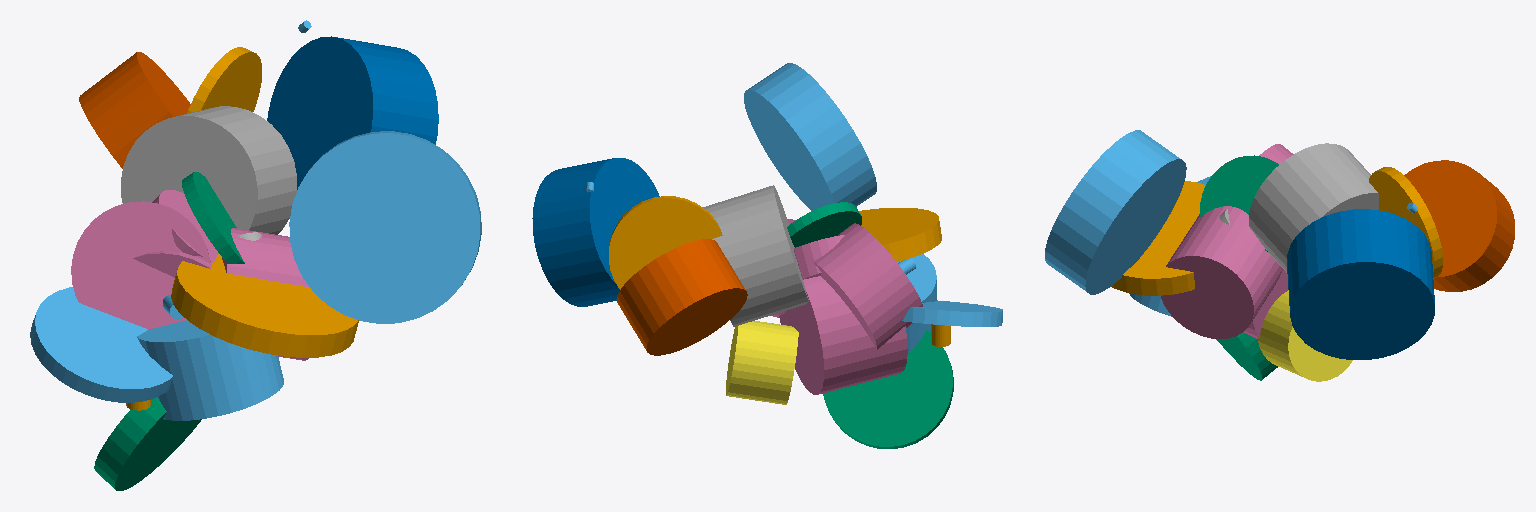
--- Facts derived from the render (not from the file) ---
The picture shows the robot from 3 angles, left to right: view 1: azimuth 30°, elevation 25°; view 2: azimuth 150°, elevation 25°; view 3: azimuth 270°, elevation 25°; orthographic projection.
Model pepe with 214 links and 213 joints (213 revolute), rooted at 0, posed every joint at zero.
Visible links, largest first — view 1: 17113, 1852, 547, 11112, 4110, 9145, 11, 1069, 15146, 648, 814, 32 (+2 smaller); view 2: 17113, 1852, 1069, 15146, 547, 246, 4110, 648, 143, 11112, 9145, 32 (+2 smaller); view 3: 1852, 17113, 814, 1069, 547, 11112, 143, 32, 648, 15146, 246.
Boxes of the visible links, x1,y1,x2,y2 form: 17113: (289,131,481,323); 1852: (267,36,438,189); 547: (121,106,296,234); 11112: (171,253,358,357); 4110: (71,201,209,329); 9145: (30,287,173,402); 11: (137,320,283,420); 1069: (79,52,190,168); 15146: (94,397,201,490); 648: (187,47,261,113); 814: (222,228,309,360); 32: (182,172,244,263); 17113: (744,63,876,210); 1852: (532,158,659,306); 1069: (617,239,747,355); 15146: (823,330,953,448); 547: (703,185,808,326); 246: (779,276,907,394); 4110: (813,223,922,349); 648: (609,196,722,289); 143: (726,321,798,404); 11112: (859,208,941,261); 9145: (902,300,1002,326); 32: (787,202,861,247); 1852: (1287,209,1434,359); 17113: (1045,130,1186,294); 814: (1161,206,1282,338); 1069: (1404,160,1514,291); 547: (1249,143,1378,272); 11112: (1111,181,1205,295); 143: (1257,290,1352,381); 32: (1200,155,1278,251); 648: (1369,167,1442,278); 15146: (1216,332,1277,380); 246: (1244,269,1287,338).
Size in the robot's own frame: 4.79 by 5 by 3.63 metres.
Geometry: primitives only (box / cylinder / sphere), no mesh files.

URDF robot description (pepe):
<?xml version="1.0"?><robot name="pepe">
	<link name="0">
		<visual>
			<geometry>
				<cylinder length="0.4161817930104861" radius="0.11094390167130874"/>
			</geometry>
		</visual>
		<collision>
			<geometry>
				<cylinder length="0.4161817930104861" radius="0.11094390167130874"/>
			</geometry>
		</collision>
		<inertial>
			<mass value="0.016093104068993763"/>
			<inertia ixx="0.03" iyy="0.03" izz="0.03" ixy="0" ixz="0" iyx="0"/>
		</inertial>
	</link>
	<link name="11">
		<visual>
			<geometry>
				<cylinder length="0.7653369330926383" radius="0.6081475968178962"/>
			</geometry>
		</visual>
		<collision>
			<geometry>
				<cylinder length="0.7653369330926383" radius="0.6081475968178962"/>
			</geometry>
		</collision>
		<inertial>
			<mass value="0.8892431618662225"/>
			<inertia ixx="0.03" iyy="0.03" izz="0.03" ixy="0" ixz="0" iyx="0"/>
		</inertial>
	</link>
	<link name="32">
		<visual>
			<geometry>
				<cylinder length="0.12230806905345315" radius="0.5479488398534842"/>
			</geometry>
		</visual>
		<collision>
			<geometry>
				<cylinder length="0.12230806905345315" radius="0.5479488398534842"/>
			</geometry>
		</collision>
		<inertial>
			<mass value="0.11536790493694493"/>
			<inertia ixx="0.03" iyy="0.03" izz="0.03" ixy="0" ixz="0" iyx="0"/>
		</inertial>
	</link>
	<link name="143">
		<visual>
			<geometry>
				<cylinder length="0.6714643504302111" radius="0.4344814887949725"/>
			</geometry>
		</visual>
		<collision>
			<geometry>
				<cylinder length="0.6714643504302111" radius="0.4344814887949725"/>
			</geometry>
		</collision>
		<inertial>
			<mass value="0.3982129584436313"/>
			<inertia ixx="0.03" iyy="0.03" izz="0.03" ixy="0" ixz="0" iyx="0"/>
		</inertial>
	</link>
	<link name="144">
		<visual>
			<geometry>
				<cylinder length="0.6714643504302111" radius="0.4344814887949725"/>
			</geometry>
		</visual>
		<collision>
			<geometry>
				<cylinder length="0.6714643504302111" radius="0.4344814887949725"/>
			</geometry>
		</collision>
		<inertial>
			<mass value="0.3982129584436313"/>
			<inertia ixx="0.03" iyy="0.03" izz="0.03" ixy="0" ixz="0" iyx="0"/>
		</inertial>
	</link>
	<link name="145">
		<visual>
			<geometry>
				<cylinder length="0.6714643504302111" radius="0.4344814887949725"/>
			</geometry>
		</visual>
		<collision>
			<geometry>
				<cylinder length="0.6714643504302111" radius="0.4344814887949725"/>
			</geometry>
		</collision>
		<inertial>
			<mass value="0.3982129584436313"/>
			<inertia ixx="0.03" iyy="0.03" izz="0.03" ixy="0" ixz="0" iyx="0"/>
		</inertial>
	</link>
	<link name="36">
		<visual>
			<geometry>
				<cylinder length="0.12230806905345315" radius="0.5479488398534842"/>
			</geometry>
		</visual>
		<collision>
			<geometry>
				<cylinder length="0.12230806905345315" radius="0.5479488398534842"/>
			</geometry>
		</collision>
		<inertial>
			<mass value="0.11536790493694493"/>
			<inertia ixx="0.03" iyy="0.03" izz="0.03" ixy="0" ixz="0" iyx="0"/>
		</inertial>
	</link>
	<link name="147">
		<visual>
			<geometry>
				<cylinder length="0.6714643504302111" radius="0.4344814887949725"/>
			</geometry>
		</visual>
		<collision>
			<geometry>
				<cylinder length="0.6714643504302111" radius="0.4344814887949725"/>
			</geometry>
		</collision>
		<inertial>
			<mass value="0.3982129584436313"/>
			<inertia ixx="0.03" iyy="0.03" izz="0.03" ixy="0" ixz="0" iyx="0"/>
		</inertial>
	</link>
	<link name="148">
		<visual>
			<geometry>
				<cylinder length="0.6714643504302111" radius="0.4344814887949725"/>
			</geometry>
		</visual>
		<collision>
			<geometry>
				<cylinder length="0.6714643504302111" radius="0.4344814887949725"/>
			</geometry>
		</collision>
		<inertial>
			<mass value="0.3982129584436313"/>
			<inertia ixx="0.03" iyy="0.03" izz="0.03" ixy="0" ixz="0" iyx="0"/>
		</inertial>
	</link>
	<link name="149">
		<visual>
			<geometry>
				<cylinder length="0.6714643504302111" radius="0.4344814887949725"/>
			</geometry>
		</visual>
		<collision>
			<geometry>
				<cylinder length="0.6714643504302111" radius="0.4344814887949725"/>
			</geometry>
		</collision>
		<inertial>
			<mass value="0.3982129584436313"/>
			<inertia ixx="0.03" iyy="0.03" izz="0.03" ixy="0" ixz="0" iyx="0"/>
		</inertial>
	</link>
	<link name="310">
		<visual>
			<geometry>
				<cylinder length="0.12230806905345315" radius="0.5479488398534842"/>
			</geometry>
		</visual>
		<collision>
			<geometry>
				<cylinder length="0.12230806905345315" radius="0.5479488398534842"/>
			</geometry>
		</collision>
		<inertial>
			<mass value="0.11536790493694493"/>
			<inertia ixx="0.03" iyy="0.03" izz="0.03" ixy="0" ixz="0" iyx="0"/>
		</inertial>
	</link>
	<link name="1411">
		<visual>
			<geometry>
				<cylinder length="0.6714643504302111" radius="0.4344814887949725"/>
			</geometry>
		</visual>
		<collision>
			<geometry>
				<cylinder length="0.6714643504302111" radius="0.4344814887949725"/>
			</geometry>
		</collision>
		<inertial>
			<mass value="0.3982129584436313"/>
			<inertia ixx="0.03" iyy="0.03" izz="0.03" ixy="0" ixz="0" iyx="0"/>
		</inertial>
	</link>
	<link name="1412">
		<visual>
			<geometry>
				<cylinder length="0.6714643504302111" radius="0.4344814887949725"/>
			</geometry>
		</visual>
		<collision>
			<geometry>
				<cylinder length="0.6714643504302111" radius="0.4344814887949725"/>
			</geometry>
		</collision>
		<inertial>
			<mass value="0.3982129584436313"/>
			<inertia ixx="0.03" iyy="0.03" izz="0.03" ixy="0" ixz="0" iyx="0"/>
		</inertial>
	</link>
	<link name="1413">
		<visual>
			<geometry>
				<cylinder length="0.6714643504302111" radius="0.4344814887949725"/>
			</geometry>
		</visual>
		<collision>
			<geometry>
				<cylinder length="0.6714643504302111" radius="0.4344814887949725"/>
			</geometry>
		</collision>
		<inertial>
			<mass value="0.3982129584436313"/>
			<inertia ixx="0.03" iyy="0.03" izz="0.03" ixy="0" ixz="0" iyx="0"/>
		</inertial>
	</link>
	<link name="814">
		<visual>
			<geometry>
				<cylinder length="0.9546986473012627" radius="0.5453221949403331"/>
			</geometry>
		</visual>
		<collision>
			<geometry>
				<cylinder length="0.9546986473012627" radius="0.5453221949403331"/>
			</geometry>
		</collision>
		<inertial>
			<mass value="0.8919130700450001"/>
			<inertia ixx="0.03" iyy="0.03" izz="0.03" ixy="0" ixz="0" iyx="0"/>
		</inertial>
	</link>
	<link name="815">
		<visual>
			<geometry>
				<cylinder length="0.9546986473012627" radius="0.5453221949403331"/>
			</geometry>
		</visual>
		<collision>
			<geometry>
				<cylinder length="0.9546986473012627" radius="0.5453221949403331"/>
			</geometry>
		</collision>
		<inertial>
			<mass value="0.8919130700450001"/>
			<inertia ixx="0.03" iyy="0.03" izz="0.03" ixy="0" ixz="0" iyx="0"/>
		</inertial>
	</link>
	<link name="116">
		<visual>
			<geometry>
				<cylinder length="0.7653369330926383" radius="0.6081475968178962"/>
			</geometry>
		</visual>
		<collision>
			<geometry>
				<cylinder length="0.7653369330926383" radius="0.6081475968178962"/>
			</geometry>
		</collision>
		<inertial>
			<mass value="0.8892431618662225"/>
			<inertia ixx="0.03" iyy="0.03" izz="0.03" ixy="0" ixz="0" iyx="0"/>
		</inertial>
	</link>
	<link name="317">
		<visual>
			<geometry>
				<cylinder length="0.12230806905345315" radius="0.5479488398534842"/>
			</geometry>
		</visual>
		<collision>
			<geometry>
				<cylinder length="0.12230806905345315" radius="0.5479488398534842"/>
			</geometry>
		</collision>
		<inertial>
			<mass value="0.11536790493694493"/>
			<inertia ixx="0.03" iyy="0.03" izz="0.03" ixy="0" ixz="0" iyx="0"/>
		</inertial>
	</link>
	<link name="1418">
		<visual>
			<geometry>
				<cylinder length="0.6714643504302111" radius="0.4344814887949725"/>
			</geometry>
		</visual>
		<collision>
			<geometry>
				<cylinder length="0.6714643504302111" radius="0.4344814887949725"/>
			</geometry>
		</collision>
		<inertial>
			<mass value="0.3982129584436313"/>
			<inertia ixx="0.03" iyy="0.03" izz="0.03" ixy="0" ixz="0" iyx="0"/>
		</inertial>
	</link>
	<link name="1419">
		<visual>
			<geometry>
				<cylinder length="0.6714643504302111" radius="0.4344814887949725"/>
			</geometry>
		</visual>
		<collision>
			<geometry>
				<cylinder length="0.6714643504302111" radius="0.4344814887949725"/>
			</geometry>
		</collision>
		<inertial>
			<mass value="0.3982129584436313"/>
			<inertia ixx="0.03" iyy="0.03" izz="0.03" ixy="0" ixz="0" iyx="0"/>
		</inertial>
	</link>
	<link name="1420">
		<visual>
			<geometry>
				<cylinder length="0.6714643504302111" radius="0.4344814887949725"/>
			</geometry>
		</visual>
		<collision>
			<geometry>
				<cylinder length="0.6714643504302111" radius="0.4344814887949725"/>
			</geometry>
		</collision>
		<inertial>
			<mass value="0.3982129584436313"/>
			<inertia ixx="0.03" iyy="0.03" izz="0.03" ixy="0" ixz="0" iyx="0"/>
		</inertial>
	</link>
	<link name="321">
		<visual>
			<geometry>
				<cylinder length="0.12230806905345315" radius="0.5479488398534842"/>
			</geometry>
		</visual>
		<collision>
			<geometry>
				<cylinder length="0.12230806905345315" radius="0.5479488398534842"/>
			</geometry>
		</collision>
		<inertial>
			<mass value="0.11536790493694493"/>
			<inertia ixx="0.03" iyy="0.03" izz="0.03" ixy="0" ixz="0" iyx="0"/>
		</inertial>
	</link>
	<link name="1422">
		<visual>
			<geometry>
				<cylinder length="0.6714643504302111" radius="0.4344814887949725"/>
			</geometry>
		</visual>
		<collision>
			<geometry>
				<cylinder length="0.6714643504302111" radius="0.4344814887949725"/>
			</geometry>
		</collision>
		<inertial>
			<mass value="0.3982129584436313"/>
			<inertia ixx="0.03" iyy="0.03" izz="0.03" ixy="0" ixz="0" iyx="0"/>
		</inertial>
	</link>
	<link name="1423">
		<visual>
			<geometry>
				<cylinder length="0.6714643504302111" radius="0.4344814887949725"/>
			</geometry>
		</visual>
		<collision>
			<geometry>
				<cylinder length="0.6714643504302111" radius="0.4344814887949725"/>
			</geometry>
		</collision>
		<inertial>
			<mass value="0.3982129584436313"/>
			<inertia ixx="0.03" iyy="0.03" izz="0.03" ixy="0" ixz="0" iyx="0"/>
		</inertial>
	</link>
	<link name="1424">
		<visual>
			<geometry>
				<cylinder length="0.6714643504302111" radius="0.4344814887949725"/>
			</geometry>
		</visual>
		<collision>
			<geometry>
				<cylinder length="0.6714643504302111" radius="0.4344814887949725"/>
			</geometry>
		</collision>
		<inertial>
			<mass value="0.3982129584436313"/>
			<inertia ixx="0.03" iyy="0.03" izz="0.03" ixy="0" ixz="0" iyx="0"/>
		</inertial>
	</link>
	<link name="325">
		<visual>
			<geometry>
				<cylinder length="0.12230806905345315" radius="0.5479488398534842"/>
			</geometry>
		</visual>
		<collision>
			<geometry>
				<cylinder length="0.12230806905345315" radius="0.5479488398534842"/>
			</geometry>
		</collision>
		<inertial>
			<mass value="0.11536790493694493"/>
			<inertia ixx="0.03" iyy="0.03" izz="0.03" ixy="0" ixz="0" iyx="0"/>
		</inertial>
	</link>
	<link name="1426">
		<visual>
			<geometry>
				<cylinder length="0.6714643504302111" radius="0.4344814887949725"/>
			</geometry>
		</visual>
		<collision>
			<geometry>
				<cylinder length="0.6714643504302111" radius="0.4344814887949725"/>
			</geometry>
		</collision>
		<inertial>
			<mass value="0.3982129584436313"/>
			<inertia ixx="0.03" iyy="0.03" izz="0.03" ixy="0" ixz="0" iyx="0"/>
		</inertial>
	</link>
	<link name="1427">
		<visual>
			<geometry>
				<cylinder length="0.6714643504302111" radius="0.4344814887949725"/>
			</geometry>
		</visual>
		<collision>
			<geometry>
				<cylinder length="0.6714643504302111" radius="0.4344814887949725"/>
			</geometry>
		</collision>
		<inertial>
			<mass value="0.3982129584436313"/>
			<inertia ixx="0.03" iyy="0.03" izz="0.03" ixy="0" ixz="0" iyx="0"/>
		</inertial>
	</link>
	<link name="1428">
		<visual>
			<geometry>
				<cylinder length="0.6714643504302111" radius="0.4344814887949725"/>
			</geometry>
		</visual>
		<collision>
			<geometry>
				<cylinder length="0.6714643504302111" radius="0.4344814887949725"/>
			</geometry>
		</collision>
		<inertial>
			<mass value="0.3982129584436313"/>
			<inertia ixx="0.03" iyy="0.03" izz="0.03" ixy="0" ixz="0" iyx="0"/>
		</inertial>
	</link>
	<link name="829">
		<visual>
			<geometry>
				<cylinder length="0.9546986473012627" radius="0.5453221949403331"/>
			</geometry>
		</visual>
		<collision>
			<geometry>
				<cylinder length="0.9546986473012627" radius="0.5453221949403331"/>
			</geometry>
		</collision>
		<inertial>
			<mass value="0.8919130700450001"/>
			<inertia ixx="0.03" iyy="0.03" izz="0.03" ixy="0" ixz="0" iyx="0"/>
		</inertial>
	</link>
	<link name="830">
		<visual>
			<geometry>
				<cylinder length="0.9546986473012627" radius="0.5453221949403331"/>
			</geometry>
		</visual>
		<collision>
			<geometry>
				<cylinder length="0.9546986473012627" radius="0.5453221949403331"/>
			</geometry>
		</collision>
		<inertial>
			<mass value="0.8919130700450001"/>
			<inertia ixx="0.03" iyy="0.03" izz="0.03" ixy="0" ixz="0" iyx="0"/>
		</inertial>
	</link>
	<link name="131">
		<visual>
			<geometry>
				<cylinder length="0.7653369330926383" radius="0.6081475968178962"/>
			</geometry>
		</visual>
		<collision>
			<geometry>
				<cylinder length="0.7653369330926383" radius="0.6081475968178962"/>
			</geometry>
		</collision>
		<inertial>
			<mass value="0.8892431618662225"/>
			<inertia ixx="0.03" iyy="0.03" izz="0.03" ixy="0" ixz="0" iyx="0"/>
		</inertial>
	</link>
	<link name="332">
		<visual>
			<geometry>
				<cylinder length="0.12230806905345315" radius="0.5479488398534842"/>
			</geometry>
		</visual>
		<collision>
			<geometry>
				<cylinder length="0.12230806905345315" radius="0.5479488398534842"/>
			</geometry>
		</collision>
		<inertial>
			<mass value="0.11536790493694493"/>
			<inertia ixx="0.03" iyy="0.03" izz="0.03" ixy="0" ixz="0" iyx="0"/>
		</inertial>
	</link>
	<link name="1433">
		<visual>
			<geometry>
				<cylinder length="0.6714643504302111" radius="0.4344814887949725"/>
			</geometry>
		</visual>
		<collision>
			<geometry>
				<cylinder length="0.6714643504302111" radius="0.4344814887949725"/>
			</geometry>
		</collision>
		<inertial>
			<mass value="0.3982129584436313"/>
			<inertia ixx="0.03" iyy="0.03" izz="0.03" ixy="0" ixz="0" iyx="0"/>
		</inertial>
	</link>
	<link name="1434">
		<visual>
			<geometry>
				<cylinder length="0.6714643504302111" radius="0.4344814887949725"/>
			</geometry>
		</visual>
		<collision>
			<geometry>
				<cylinder length="0.6714643504302111" radius="0.4344814887949725"/>
			</geometry>
		</collision>
		<inertial>
			<mass value="0.3982129584436313"/>
			<inertia ixx="0.03" iyy="0.03" izz="0.03" ixy="0" ixz="0" iyx="0"/>
		</inertial>
	</link>
	<link name="1435">
		<visual>
			<geometry>
				<cylinder length="0.6714643504302111" radius="0.4344814887949725"/>
			</geometry>
		</visual>
		<collision>
			<geometry>
				<cylinder length="0.6714643504302111" radius="0.4344814887949725"/>
			</geometry>
		</collision>
		<inertial>
			<mass value="0.3982129584436313"/>
			<inertia ixx="0.03" iyy="0.03" izz="0.03" ixy="0" ixz="0" iyx="0"/>
		</inertial>
	</link>
	<link name="336">
		<visual>
			<geometry>
				<cylinder length="0.12230806905345315" radius="0.5479488398534842"/>
			</geometry>
		</visual>
		<collision>
			<geometry>
				<cylinder length="0.12230806905345315" radius="0.5479488398534842"/>
			</geometry>
		</collision>
		<inertial>
			<mass value="0.11536790493694493"/>
			<inertia ixx="0.03" iyy="0.03" izz="0.03" ixy="0" ixz="0" iyx="0"/>
		</inertial>
	</link>
	<link name="1437">
		<visual>
			<geometry>
				<cylinder length="0.6714643504302111" radius="0.4344814887949725"/>
			</geometry>
		</visual>
		<collision>
			<geometry>
				<cylinder length="0.6714643504302111" radius="0.4344814887949725"/>
			</geometry>
		</collision>
		<inertial>
			<mass value="0.3982129584436313"/>
			<inertia ixx="0.03" iyy="0.03" izz="0.03" ixy="0" ixz="0" iyx="0"/>
		</inertial>
	</link>
	<link name="1438">
		<visual>
			<geometry>
				<cylinder length="0.6714643504302111" radius="0.4344814887949725"/>
			</geometry>
		</visual>
		<collision>
			<geometry>
				<cylinder length="0.6714643504302111" radius="0.4344814887949725"/>
			</geometry>
		</collision>
		<inertial>
			<mass value="0.3982129584436313"/>
			<inertia ixx="0.03" iyy="0.03" izz="0.03" ixy="0" ixz="0" iyx="0"/>
		</inertial>
	</link>
	<link name="1439">
		<visual>
			<geometry>
				<cylinder length="0.6714643504302111" radius="0.4344814887949725"/>
			</geometry>
		</visual>
		<collision>
			<geometry>
				<cylinder length="0.6714643504302111" radius="0.4344814887949725"/>
			</geometry>
		</collision>
		<inertial>
			<mass value="0.3982129584436313"/>
			<inertia ixx="0.03" iyy="0.03" izz="0.03" ixy="0" ixz="0" iyx="0"/>
		</inertial>
	</link>
	<link name="340">
		<visual>
			<geometry>
				<cylinder length="0.12230806905345315" radius="0.5479488398534842"/>
			</geometry>
		</visual>
		<collision>
			<geometry>
				<cylinder length="0.12230806905345315" radius="0.5479488398534842"/>
			</geometry>
		</collision>
		<inertial>
			<mass value="0.11536790493694493"/>
			<inertia ixx="0.03" iyy="0.03" izz="0.03" ixy="0" ixz="0" iyx="0"/>
		</inertial>
	</link>
	<link name="1441">
		<visual>
			<geometry>
				<cylinder length="0.6714643504302111" radius="0.4344814887949725"/>
			</geometry>
		</visual>
		<collision>
			<geometry>
				<cylinder length="0.6714643504302111" radius="0.4344814887949725"/>
			</geometry>
		</collision>
		<inertial>
			<mass value="0.3982129584436313"/>
			<inertia ixx="0.03" iyy="0.03" izz="0.03" ixy="0" ixz="0" iyx="0"/>
		</inertial>
	</link>
	<link name="1442">
		<visual>
			<geometry>
				<cylinder length="0.6714643504302111" radius="0.4344814887949725"/>
			</geometry>
		</visual>
		<collision>
			<geometry>
				<cylinder length="0.6714643504302111" radius="0.4344814887949725"/>
			</geometry>
		</collision>
		<inertial>
			<mass value="0.3982129584436313"/>
			<inertia ixx="0.03" iyy="0.03" izz="0.03" ixy="0" ixz="0" iyx="0"/>
		</inertial>
	</link>
	<link name="1443">
		<visual>
			<geometry>
				<cylinder length="0.6714643504302111" radius="0.4344814887949725"/>
			</geometry>
		</visual>
		<collision>
			<geometry>
				<cylinder length="0.6714643504302111" radius="0.4344814887949725"/>
			</geometry>
		</collision>
		<inertial>
			<mass value="0.3982129584436313"/>
			<inertia ixx="0.03" iyy="0.03" izz="0.03" ixy="0" ixz="0" iyx="0"/>
		</inertial>
	</link>
	<link name="844">
		<visual>
			<geometry>
				<cylinder length="0.9546986473012627" radius="0.5453221949403331"/>
			</geometry>
		</visual>
		<collision>
			<geometry>
				<cylinder length="0.9546986473012627" radius="0.5453221949403331"/>
			</geometry>
		</collision>
		<inertial>
			<mass value="0.8919130700450001"/>
			<inertia ixx="0.03" iyy="0.03" izz="0.03" ixy="0" ixz="0" iyx="0"/>
		</inertial>
	</link>
	<link name="845">
		<visual>
			<geometry>
				<cylinder length="0.9546986473012627" radius="0.5453221949403331"/>
			</geometry>
		</visual>
		<collision>
			<geometry>
				<cylinder length="0.9546986473012627" radius="0.5453221949403331"/>
			</geometry>
		</collision>
		<inertial>
			<mass value="0.8919130700450001"/>
			<inertia ixx="0.03" iyy="0.03" izz="0.03" ixy="0" ixz="0" iyx="0"/>
		</inertial>
	</link>
	<link name="246">
		<visual>
			<geometry>
				<cylinder length="0.9809002577633869" radius="0.7497416429966227"/>
			</geometry>
		</visual>
		<collision>
			<geometry>
				<cylinder length="0.9809002577633869" radius="0.7497416429966227"/>
			</geometry>
		</collision>
		<inertial>
			<mass value="1.7321998176022606"/>
			<inertia ixx="0.03" iyy="0.03" izz="0.03" ixy="0" ixz="0" iyx="0"/>
		</inertial>
	</link>
	<link name="547">
		<visual>
			<geometry>
				<cylinder length="0.8826442772815515" radius="0.6816320047712525"/>
			</geometry>
		</visual>
		<collision>
			<geometry>
				<cylinder length="0.8826442772815515" radius="0.6816320047712525"/>
			</geometry>
		</collision>
		<inertial>
			<mass value="1.2883549485535126"/>
			<inertia ixx="0.03" iyy="0.03" izz="0.03" ixy="0" ixz="0" iyx="0"/>
		</inertial>
	</link>
	<link name="648">
		<visual>
			<geometry>
				<cylinder length="0.11362368630845499" radius="0.6494033630976267"/>
			</geometry>
		</visual>
		<collision>
			<geometry>
				<cylinder length="0.11362368630845499" radius="0.6494033630976267"/>
			</geometry>
		</collision>
		<inertial>
			<mass value="0.15053857980209853"/>
			<inertia ixx="0.03" iyy="0.03" izz="0.03" ixy="0" ixz="0" iyx="0"/>
		</inertial>
	</link>
	<link name="1349">
		<visual>
			<geometry>
				<cylinder length="0.08742329743517208" radius="0.04281209901730665"/>
			</geometry>
		</visual>
		<collision>
			<geometry>
				<cylinder length="0.08742329743517208" radius="0.04281209901730665"/>
			</geometry>
		</collision>
		<inertial>
			<mass value="0.0005033963917769191"/>
			<inertia ixx="0.03" iyy="0.03" izz="0.03" ixy="0" ixz="0" iyx="0"/>
		</inertial>
	</link>
	<link name="1350">
		<visual>
			<geometry>
				<cylinder length="0.08742329743517208" radius="0.04281209901730665"/>
			</geometry>
		</visual>
		<collision>
			<geometry>
				<cylinder length="0.08742329743517208" radius="0.04281209901730665"/>
			</geometry>
		</collision>
		<inertial>
			<mass value="0.0005033963917769191"/>
			<inertia ixx="0.03" iyy="0.03" izz="0.03" ixy="0" ixz="0" iyx="0"/>
		</inertial>
	</link>
	<link name="1351">
		<visual>
			<geometry>
				<cylinder length="0.08742329743517208" radius="0.04281209901730665"/>
			</geometry>
		</visual>
		<collision>
			<geometry>
				<cylinder length="0.08742329743517208" radius="0.04281209901730665"/>
			</geometry>
		</collision>
		<inertial>
			<mass value="0.0005033963917769191"/>
			<inertia ixx="0.03" iyy="0.03" izz="0.03" ixy="0" ixz="0" iyx="0"/>
		</inertial>
	</link>
	<link name="1852">
		<visual>
			<geometry>
				<cylinder length="0.7632356982536102" radius="0.7713125472484885"/>
			</geometry>
		</visual>
		<collision>
			<geometry>
				<cylinder length="0.7632356982536102" radius="0.7713125472484885"/>
			</geometry>
		</collision>
		<inertial>
			<mass value="1.4264919997174177"/>
			<inertia ixx="0.03" iyy="0.03" izz="0.03" ixy="0" ixz="0" iyx="0"/>
		</inertial>
	</link>
	<link name="1853">
		<visual>
			<geometry>
				<cylinder length="0.7632356982536102" radius="0.7713125472484885"/>
			</geometry>
		</visual>
		<collision>
			<geometry>
				<cylinder length="0.7632356982536102" radius="0.7713125472484885"/>
			</geometry>
		</collision>
		<inertial>
			<mass value="1.4264919997174177"/>
			<inertia ixx="0.03" iyy="0.03" izz="0.03" ixy="0" ixz="0" iyx="0"/>
		</inertial>
	</link>
	<link name="1854">
		<visual>
			<geometry>
				<cylinder length="0.7632356982536102" radius="0.7713125472484885"/>
			</geometry>
		</visual>
		<collision>
			<geometry>
				<cylinder length="0.7632356982536102" radius="0.7713125472484885"/>
			</geometry>
		</collision>
		<inertial>
			<mass value="1.4264919997174177"/>
			<inertia ixx="0.03" iyy="0.03" izz="0.03" ixy="0" ixz="0" iyx="0"/>
		</inertial>
	</link>
	<link name="655">
		<visual>
			<geometry>
				<cylinder length="0.11362368630845499" radius="0.6494033630976267"/>
			</geometry>
		</visual>
		<collision>
			<geometry>
				<cylinder length="0.11362368630845499" radius="0.6494033630976267"/>
			</geometry>
		</collision>
		<inertial>
			<mass value="0.15053857980209853"/>
			<inertia ixx="0.03" iyy="0.03" izz="0.03" ixy="0" ixz="0" iyx="0"/>
		</inertial>
	</link>
	<link name="1356">
		<visual>
			<geometry>
				<cylinder length="0.08742329743517208" radius="0.04281209901730665"/>
			</geometry>
		</visual>
		<collision>
			<geometry>
				<cylinder length="0.08742329743517208" radius="0.04281209901730665"/>
			</geometry>
		</collision>
		<inertial>
			<mass value="0.0005033963917769191"/>
			<inertia ixx="0.03" iyy="0.03" izz="0.03" ixy="0" ixz="0" iyx="0"/>
		</inertial>
	</link>
	<link name="1357">
		<visual>
			<geometry>
				<cylinder length="0.08742329743517208" radius="0.04281209901730665"/>
			</geometry>
		</visual>
		<collision>
			<geometry>
				<cylinder length="0.08742329743517208" radius="0.04281209901730665"/>
			</geometry>
		</collision>
		<inertial>
			<mass value="0.0005033963917769191"/>
			<inertia ixx="0.03" iyy="0.03" izz="0.03" ixy="0" ixz="0" iyx="0"/>
		</inertial>
	</link>
	<link name="1358">
		<visual>
			<geometry>
				<cylinder length="0.08742329743517208" radius="0.04281209901730665"/>
			</geometry>
		</visual>
		<collision>
			<geometry>
				<cylinder length="0.08742329743517208" radius="0.04281209901730665"/>
			</geometry>
		</collision>
		<inertial>
			<mass value="0.0005033963917769191"/>
			<inertia ixx="0.03" iyy="0.03" izz="0.03" ixy="0" ixz="0" iyx="0"/>
		</inertial>
	</link>
	<link name="1859">
		<visual>
			<geometry>
				<cylinder length="0.7632356982536102" radius="0.7713125472484885"/>
			</geometry>
		</visual>
		<collision>
			<geometry>
				<cylinder length="0.7632356982536102" radius="0.7713125472484885"/>
			</geometry>
		</collision>
		<inertial>
			<mass value="1.4264919997174177"/>
			<inertia ixx="0.03" iyy="0.03" izz="0.03" ixy="0" ixz="0" iyx="0"/>
		</inertial>
	</link>
	<link name="1860">
		<visual>
			<geometry>
				<cylinder length="0.7632356982536102" radius="0.7713125472484885"/>
			</geometry>
		</visual>
		<collision>
			<geometry>
				<cylinder length="0.7632356982536102" radius="0.7713125472484885"/>
			</geometry>
		</collision>
		<inertial>
			<mass value="1.4264919997174177"/>
			<inertia ixx="0.03" iyy="0.03" izz="0.03" ixy="0" ixz="0" iyx="0"/>
		</inertial>
	</link>
	<link name="1861">
		<visual>
			<geometry>
				<cylinder length="0.7632356982536102" radius="0.7713125472484885"/>
			</geometry>
		</visual>
		<collision>
			<geometry>
				<cylinder length="0.7632356982536102" radius="0.7713125472484885"/>
			</geometry>
		</collision>
		<inertial>
			<mass value="1.4264919997174177"/>
			<inertia ixx="0.03" iyy="0.03" izz="0.03" ixy="0" ixz="0" iyx="0"/>
		</inertial>
	</link>
	<link name="662">
		<visual>
			<geometry>
				<cylinder length="0.11362368630845499" radius="0.6494033630976267"/>
			</geometry>
		</visual>
		<collision>
			<geometry>
				<cylinder length="0.11362368630845499" radius="0.6494033630976267"/>
			</geometry>
		</collision>
		<inertial>
			<mass value="0.15053857980209853"/>
			<inertia ixx="0.03" iyy="0.03" izz="0.03" ixy="0" ixz="0" iyx="0"/>
		</inertial>
	</link>
	<link name="1363">
		<visual>
			<geometry>
				<cylinder length="0.08742329743517208" radius="0.04281209901730665"/>
			</geometry>
		</visual>
		<collision>
			<geometry>
				<cylinder length="0.08742329743517208" radius="0.04281209901730665"/>
			</geometry>
		</collision>
		<inertial>
			<mass value="0.0005033963917769191"/>
			<inertia ixx="0.03" iyy="0.03" izz="0.03" ixy="0" ixz="0" iyx="0"/>
		</inertial>
	</link>
	<link name="1364">
		<visual>
			<geometry>
				<cylinder length="0.08742329743517208" radius="0.04281209901730665"/>
			</geometry>
		</visual>
		<collision>
			<geometry>
				<cylinder length="0.08742329743517208" radius="0.04281209901730665"/>
			</geometry>
		</collision>
		<inertial>
			<mass value="0.0005033963917769191"/>
			<inertia ixx="0.03" iyy="0.03" izz="0.03" ixy="0" ixz="0" iyx="0"/>
		</inertial>
	</link>
	<link name="1365">
		<visual>
			<geometry>
				<cylinder length="0.08742329743517208" radius="0.04281209901730665"/>
			</geometry>
		</visual>
		<collision>
			<geometry>
				<cylinder length="0.08742329743517208" radius="0.04281209901730665"/>
			</geometry>
		</collision>
		<inertial>
			<mass value="0.0005033963917769191"/>
			<inertia ixx="0.03" iyy="0.03" izz="0.03" ixy="0" ixz="0" iyx="0"/>
		</inertial>
	</link>
	<link name="1866">
		<visual>
			<geometry>
				<cylinder length="0.7632356982536102" radius="0.7713125472484885"/>
			</geometry>
		</visual>
		<collision>
			<geometry>
				<cylinder length="0.7632356982536102" radius="0.7713125472484885"/>
			</geometry>
		</collision>
		<inertial>
			<mass value="1.4264919997174177"/>
			<inertia ixx="0.03" iyy="0.03" izz="0.03" ixy="0" ixz="0" iyx="0"/>
		</inertial>
	</link>
	<link name="1867">
		<visual>
			<geometry>
				<cylinder length="0.7632356982536102" radius="0.7713125472484885"/>
			</geometry>
		</visual>
		<collision>
			<geometry>
				<cylinder length="0.7632356982536102" radius="0.7713125472484885"/>
			</geometry>
		</collision>
		<inertial>
			<mass value="1.4264919997174177"/>
			<inertia ixx="0.03" iyy="0.03" izz="0.03" ixy="0" ixz="0" iyx="0"/>
		</inertial>
	</link>
	<link name="1868">
		<visual>
			<geometry>
				<cylinder length="0.7632356982536102" radius="0.7713125472484885"/>
			</geometry>
		</visual>
		<collision>
			<geometry>
				<cylinder length="0.7632356982536102" radius="0.7713125472484885"/>
			</geometry>
		</collision>
		<inertial>
			<mass value="1.4264919997174177"/>
			<inertia ixx="0.03" iyy="0.03" izz="0.03" ixy="0" ixz="0" iyx="0"/>
		</inertial>
	</link>
	<link name="1069">
		<visual>
			<geometry>
				<cylinder length="0.6652914430042213" radius="0.6410002805635848"/>
			</geometry>
		</visual>
		<collision>
			<geometry>
				<cylinder length="0.6652914430042213" radius="0.6410002805635848"/>
			</geometry>
		</collision>
		<inertial>
			<mass value="0.8587727386165295"/>
			<inertia ixx="0.03" iyy="0.03" izz="0.03" ixy="0" ixz="0" iyx="0"/>
		</inertial>
	</link>
	<link name="1270">
		<visual>
			<geometry>
				<cylinder length="0.35874076210707495" radius="0.4950138678047672"/>
			</geometry>
		</visual>
		<collision>
			<geometry>
				<cylinder length="0.35874076210707495" radius="0.4950138678047672"/>
			</geometry>
		</collision>
		<inertial>
			<mass value="0.27616289759503065"/>
			<inertia ixx="0.03" iyy="0.03" izz="0.03" ixy="0" ixz="0" iyx="0"/>
		</inertial>
	</link>
	<link name="1971">
		<visual>
			<geometry>
				<cylinder length="0.6353588741446312" radius="0.19022579933833428"/>
			</geometry>
		</visual>
		<collision>
			<geometry>
				<cylinder length="0.6353588741446312" radius="0.19022579933833428"/>
			</geometry>
		</collision>
		<inertial>
			<mass value="0.07222836902534091"/>
			<inertia ixx="0.03" iyy="0.03" izz="0.03" ixy="0" ixz="0" iyx="0"/>
		</inertial>
	</link>
	<link name="1972">
		<visual>
			<geometry>
				<cylinder length="0.6353588741446312" radius="0.19022579933833428"/>
			</geometry>
		</visual>
		<collision>
			<geometry>
				<cylinder length="0.6353588741446312" radius="0.19022579933833428"/>
			</geometry>
		</collision>
		<inertial>
			<mass value="0.07222836902534091"/>
			<inertia ixx="0.03" iyy="0.03" izz="0.03" ixy="0" ixz="0" iyx="0"/>
		</inertial>
	</link>
	<link name="1973">
		<visual>
			<geometry>
				<cylinder length="0.6353588741446312" radius="0.19022579933833428"/>
			</geometry>
		</visual>
		<collision>
			<geometry>
				<cylinder length="0.6353588741446312" radius="0.19022579933833428"/>
			</geometry>
		</collision>
		<inertial>
			<mass value="0.07222836902534091"/>
			<inertia ixx="0.03" iyy="0.03" izz="0.03" ixy="0" ixz="0" iyx="0"/>
		</inertial>
	</link>
	<link name="1274">
		<visual>
			<geometry>
				<cylinder length="0.35874076210707495" radius="0.4950138678047672"/>
			</geometry>
		</visual>
		<collision>
			<geometry>
				<cylinder length="0.35874076210707495" radius="0.4950138678047672"/>
			</geometry>
		</collision>
		<inertial>
			<mass value="0.27616289759503065"/>
			<inertia ixx="0.03" iyy="0.03" izz="0.03" ixy="0" ixz="0" iyx="0"/>
		</inertial>
	</link>
	<link name="1975">
		<visual>
			<geometry>
				<cylinder length="0.6353588741446312" radius="0.19022579933833428"/>
			</geometry>
		</visual>
		<collision>
			<geometry>
				<cylinder length="0.6353588741446312" radius="0.19022579933833428"/>
			</geometry>
		</collision>
		<inertial>
			<mass value="0.07222836902534091"/>
			<inertia ixx="0.03" iyy="0.03" izz="0.03" ixy="0" ixz="0" iyx="0"/>
		</inertial>
	</link>
	<link name="1976">
		<visual>
			<geometry>
				<cylinder length="0.6353588741446312" radius="0.19022579933833428"/>
			</geometry>
		</visual>
		<collision>
			<geometry>
				<cylinder length="0.6353588741446312" radius="0.19022579933833428"/>
			</geometry>
		</collision>
		<inertial>
			<mass value="0.07222836902534091"/>
			<inertia ixx="0.03" iyy="0.03" izz="0.03" ixy="0" ixz="0" iyx="0"/>
		</inertial>
	</link>
	<link name="1977">
		<visual>
			<geometry>
				<cylinder length="0.6353588741446312" radius="0.19022579933833428"/>
			</geometry>
		</visual>
		<collision>
			<geometry>
				<cylinder length="0.6353588741446312" radius="0.19022579933833428"/>
			</geometry>
		</collision>
		<inertial>
			<mass value="0.07222836902534091"/>
			<inertia ixx="0.03" iyy="0.03" izz="0.03" ixy="0" ixz="0" iyx="0"/>
		</inertial>
	</link>
	<link name="278">
		<visual>
			<geometry>
				<cylinder length="0.9809002577633869" radius="0.7497416429966227"/>
			</geometry>
		</visual>
		<collision>
			<geometry>
				<cylinder length="0.9809002577633869" radius="0.7497416429966227"/>
			</geometry>
		</collision>
		<inertial>
			<mass value="1.7321998176022606"/>
			<inertia ixx="0.03" iyy="0.03" izz="0.03" ixy="0" ixz="0" iyx="0"/>
		</inertial>
	</link>
	<link name="579">
		<visual>
			<geometry>
				<cylinder length="0.8826442772815515" radius="0.6816320047712525"/>
			</geometry>
		</visual>
		<collision>
			<geometry>
				<cylinder length="0.8826442772815515" radius="0.6816320047712525"/>
			</geometry>
		</collision>
		<inertial>
			<mass value="1.2883549485535126"/>
			<inertia ixx="0.03" iyy="0.03" izz="0.03" ixy="0" ixz="0" iyx="0"/>
		</inertial>
	</link>
	<link name="680">
		<visual>
			<geometry>
				<cylinder length="0.11362368630845499" radius="0.6494033630976267"/>
			</geometry>
		</visual>
		<collision>
			<geometry>
				<cylinder length="0.11362368630845499" radius="0.6494033630976267"/>
			</geometry>
		</collision>
		<inertial>
			<mass value="0.15053857980209853"/>
			<inertia ixx="0.03" iyy="0.03" izz="0.03" ixy="0" ixz="0" iyx="0"/>
		</inertial>
	</link>
	<link name="1381">
		<visual>
			<geometry>
				<cylinder length="0.08742329743517208" radius="0.04281209901730665"/>
			</geometry>
		</visual>
		<collision>
			<geometry>
				<cylinder length="0.08742329743517208" radius="0.04281209901730665"/>
			</geometry>
		</collision>
		<inertial>
			<mass value="0.0005033963917769191"/>
			<inertia ixx="0.03" iyy="0.03" izz="0.03" ixy="0" ixz="0" iyx="0"/>
		</inertial>
	</link>
	<link name="1382">
		<visual>
			<geometry>
				<cylinder length="0.08742329743517208" radius="0.04281209901730665"/>
			</geometry>
		</visual>
		<collision>
			<geometry>
				<cylinder length="0.08742329743517208" radius="0.04281209901730665"/>
			</geometry>
		</collision>
		<inertial>
			<mass value="0.0005033963917769191"/>
			<inertia ixx="0.03" iyy="0.03" izz="0.03" ixy="0" ixz="0" iyx="0"/>
		</inertial>
	</link>
	<link name="1383">
		<visual>
			<geometry>
				<cylinder length="0.08742329743517208" radius="0.04281209901730665"/>
			</geometry>
		</visual>
		<collision>
			<geometry>
				<cylinder length="0.08742329743517208" radius="0.04281209901730665"/>
			</geometry>
		</collision>
		<inertial>
			<mass value="0.0005033963917769191"/>
			<inertia ixx="0.03" iyy="0.03" izz="0.03" ixy="0" ixz="0" iyx="0"/>
		</inertial>
	</link>
	<link name="1884">
		<visual>
			<geometry>
				<cylinder length="0.7632356982536102" radius="0.7713125472484885"/>
			</geometry>
		</visual>
		<collision>
			<geometry>
				<cylinder length="0.7632356982536102" radius="0.7713125472484885"/>
			</geometry>
		</collision>
		<inertial>
			<mass value="1.4264919997174177"/>
			<inertia ixx="0.03" iyy="0.03" izz="0.03" ixy="0" ixz="0" iyx="0"/>
		</inertial>
	</link>
	<link name="1885">
		<visual>
			<geometry>
				<cylinder length="0.7632356982536102" radius="0.7713125472484885"/>
			</geometry>
		</visual>
		<collision>
			<geometry>
				<cylinder length="0.7632356982536102" radius="0.7713125472484885"/>
			</geometry>
		</collision>
		<inertial>
			<mass value="1.4264919997174177"/>
			<inertia ixx="0.03" iyy="0.03" izz="0.03" ixy="0" ixz="0" iyx="0"/>
		</inertial>
	</link>
	<link name="1886">
		<visual>
			<geometry>
				<cylinder length="0.7632356982536102" radius="0.7713125472484885"/>
			</geometry>
		</visual>
		<collision>
			<geometry>
				<cylinder length="0.7632356982536102" radius="0.7713125472484885"/>
			</geometry>
		</collision>
		<inertial>
			<mass value="1.4264919997174177"/>
			<inertia ixx="0.03" iyy="0.03" izz="0.03" ixy="0" ixz="0" iyx="0"/>
		</inertial>
	</link>
	<link name="687">
		<visual>
			<geometry>
				<cylinder length="0.11362368630845499" radius="0.6494033630976267"/>
			</geometry>
		</visual>
		<collision>
			<geometry>
				<cylinder length="0.11362368630845499" radius="0.6494033630976267"/>
			</geometry>
		</collision>
		<inertial>
			<mass value="0.15053857980209853"/>
			<inertia ixx="0.03" iyy="0.03" izz="0.03" ixy="0" ixz="0" iyx="0"/>
		</inertial>
	</link>
	<link name="1388">
		<visual>
			<geometry>
				<cylinder length="0.08742329743517208" radius="0.04281209901730665"/>
			</geometry>
		</visual>
		<collision>
			<geometry>
				<cylinder length="0.08742329743517208" radius="0.04281209901730665"/>
			</geometry>
		</collision>
		<inertial>
			<mass value="0.0005033963917769191"/>
			<inertia ixx="0.03" iyy="0.03" izz="0.03" ixy="0" ixz="0" iyx="0"/>
		</inertial>
	</link>
	<link name="1389">
		<visual>
			<geometry>
				<cylinder length="0.08742329743517208" radius="0.04281209901730665"/>
			</geometry>
		</visual>
		<collision>
			<geometry>
				<cylinder length="0.08742329743517208" radius="0.04281209901730665"/>
			</geometry>
		</collision>
		<inertial>
			<mass value="0.0005033963917769191"/>
			<inertia ixx="0.03" iyy="0.03" izz="0.03" ixy="0" ixz="0" iyx="0"/>
		</inertial>
	</link>
	<link name="1390">
		<visual>
			<geometry>
				<cylinder length="0.08742329743517208" radius="0.04281209901730665"/>
			</geometry>
		</visual>
		<collision>
			<geometry>
				<cylinder length="0.08742329743517208" radius="0.04281209901730665"/>
			</geometry>
		</collision>
		<inertial>
			<mass value="0.0005033963917769191"/>
			<inertia ixx="0.03" iyy="0.03" izz="0.03" ixy="0" ixz="0" iyx="0"/>
		</inertial>
	</link>
	<link name="1891">
		<visual>
			<geometry>
				<cylinder length="0.7632356982536102" radius="0.7713125472484885"/>
			</geometry>
		</visual>
		<collision>
			<geometry>
				<cylinder length="0.7632356982536102" radius="0.7713125472484885"/>
			</geometry>
		</collision>
		<inertial>
			<mass value="1.4264919997174177"/>
			<inertia ixx="0.03" iyy="0.03" izz="0.03" ixy="0" ixz="0" iyx="0"/>
		</inertial>
	</link>
	<link name="1892">
		<visual>
			<geometry>
				<cylinder length="0.7632356982536102" radius="0.7713125472484885"/>
			</geometry>
		</visual>
		<collision>
			<geometry>
				<cylinder length="0.7632356982536102" radius="0.7713125472484885"/>
			</geometry>
		</collision>
		<inertial>
			<mass value="1.4264919997174177"/>
			<inertia ixx="0.03" iyy="0.03" izz="0.03" ixy="0" ixz="0" iyx="0"/>
		</inertial>
	</link>
	<link name="1893">
		<visual>
			<geometry>
				<cylinder length="0.7632356982536102" radius="0.7713125472484885"/>
			</geometry>
		</visual>
		<collision>
			<geometry>
				<cylinder length="0.7632356982536102" radius="0.7713125472484885"/>
			</geometry>
		</collision>
		<inertial>
			<mass value="1.4264919997174177"/>
			<inertia ixx="0.03" iyy="0.03" izz="0.03" ixy="0" ixz="0" iyx="0"/>
		</inertial>
	</link>
	<link name="694">
		<visual>
			<geometry>
				<cylinder length="0.11362368630845499" radius="0.6494033630976267"/>
			</geometry>
		</visual>
		<collision>
			<geometry>
				<cylinder length="0.11362368630845499" radius="0.6494033630976267"/>
			</geometry>
		</collision>
		<inertial>
			<mass value="0.15053857980209853"/>
			<inertia ixx="0.03" iyy="0.03" izz="0.03" ixy="0" ixz="0" iyx="0"/>
		</inertial>
	</link>
	<link name="1395">
		<visual>
			<geometry>
				<cylinder length="0.08742329743517208" radius="0.04281209901730665"/>
			</geometry>
		</visual>
		<collision>
			<geometry>
				<cylinder length="0.08742329743517208" radius="0.04281209901730665"/>
			</geometry>
		</collision>
		<inertial>
			<mass value="0.0005033963917769191"/>
			<inertia ixx="0.03" iyy="0.03" izz="0.03" ixy="0" ixz="0" iyx="0"/>
		</inertial>
	</link>
	<link name="1396">
		<visual>
			<geometry>
				<cylinder length="0.08742329743517208" radius="0.04281209901730665"/>
			</geometry>
		</visual>
		<collision>
			<geometry>
				<cylinder length="0.08742329743517208" radius="0.04281209901730665"/>
			</geometry>
		</collision>
		<inertial>
			<mass value="0.0005033963917769191"/>
			<inertia ixx="0.03" iyy="0.03" izz="0.03" ixy="0" ixz="0" iyx="0"/>
		</inertial>
	</link>
	<link name="1397">
		<visual>
			<geometry>
				<cylinder length="0.08742329743517208" radius="0.04281209901730665"/>
			</geometry>
		</visual>
		<collision>
			<geometry>
				<cylinder length="0.08742329743517208" radius="0.04281209901730665"/>
			</geometry>
		</collision>
		<inertial>
			<mass value="0.0005033963917769191"/>
			<inertia ixx="0.03" iyy="0.03" izz="0.03" ixy="0" ixz="0" iyx="0"/>
		</inertial>
	</link>
	<link name="1898">
		<visual>
			<geometry>
				<cylinder length="0.7632356982536102" radius="0.7713125472484885"/>
			</geometry>
		</visual>
		<collision>
			<geometry>
				<cylinder length="0.7632356982536102" radius="0.7713125472484885"/>
			</geometry>
		</collision>
		<inertial>
			<mass value="1.4264919997174177"/>
			<inertia ixx="0.03" iyy="0.03" izz="0.03" ixy="0" ixz="0" iyx="0"/>
		</inertial>
	</link>
	<link name="1899">
		<visual>
			<geometry>
				<cylinder length="0.7632356982536102" radius="0.7713125472484885"/>
			</geometry>
		</visual>
		<collision>
			<geometry>
				<cylinder length="0.7632356982536102" radius="0.7713125472484885"/>
			</geometry>
		</collision>
		<inertial>
			<mass value="1.4264919997174177"/>
			<inertia ixx="0.03" iyy="0.03" izz="0.03" ixy="0" ixz="0" iyx="0"/>
		</inertial>
	</link>
	<link name="18100">
		<visual>
			<geometry>
				<cylinder length="0.7632356982536102" radius="0.7713125472484885"/>
			</geometry>
		</visual>
		<collision>
			<geometry>
				<cylinder length="0.7632356982536102" radius="0.7713125472484885"/>
			</geometry>
		</collision>
		<inertial>
			<mass value="1.4264919997174177"/>
			<inertia ixx="0.03" iyy="0.03" izz="0.03" ixy="0" ixz="0" iyx="0"/>
		</inertial>
	</link>
	<link name="10101">
		<visual>
			<geometry>
				<cylinder length="0.6652914430042213" radius="0.6410002805635848"/>
			</geometry>
		</visual>
		<collision>
			<geometry>
				<cylinder length="0.6652914430042213" radius="0.6410002805635848"/>
			</geometry>
		</collision>
		<inertial>
			<mass value="0.8587727386165295"/>
			<inertia ixx="0.03" iyy="0.03" izz="0.03" ixy="0" ixz="0" iyx="0"/>
		</inertial>
	</link>
	<link name="12102">
		<visual>
			<geometry>
				<cylinder length="0.35874076210707495" radius="0.4950138678047672"/>
			</geometry>
		</visual>
		<collision>
			<geometry>
				<cylinder length="0.35874076210707495" radius="0.4950138678047672"/>
			</geometry>
		</collision>
		<inertial>
			<mass value="0.27616289759503065"/>
			<inertia ixx="0.03" iyy="0.03" izz="0.03" ixy="0" ixz="0" iyx="0"/>
		</inertial>
	</link>
	<link name="19103">
		<visual>
			<geometry>
				<cylinder length="0.6353588741446312" radius="0.19022579933833428"/>
			</geometry>
		</visual>
		<collision>
			<geometry>
				<cylinder length="0.6353588741446312" radius="0.19022579933833428"/>
			</geometry>
		</collision>
		<inertial>
			<mass value="0.07222836902534091"/>
			<inertia ixx="0.03" iyy="0.03" izz="0.03" ixy="0" ixz="0" iyx="0"/>
		</inertial>
	</link>
	<link name="19104">
		<visual>
			<geometry>
				<cylinder length="0.6353588741446312" radius="0.19022579933833428"/>
			</geometry>
		</visual>
		<collision>
			<geometry>
				<cylinder length="0.6353588741446312" radius="0.19022579933833428"/>
			</geometry>
		</collision>
		<inertial>
			<mass value="0.07222836902534091"/>
			<inertia ixx="0.03" iyy="0.03" izz="0.03" ixy="0" ixz="0" iyx="0"/>
		</inertial>
	</link>
	<link name="19105">
		<visual>
			<geometry>
				<cylinder length="0.6353588741446312" radius="0.19022579933833428"/>
			</geometry>
		</visual>
		<collision>
			<geometry>
				<cylinder length="0.6353588741446312" radius="0.19022579933833428"/>
			</geometry>
		</collision>
		<inertial>
			<mass value="0.07222836902534091"/>
			<inertia ixx="0.03" iyy="0.03" izz="0.03" ixy="0" ixz="0" iyx="0"/>
		</inertial>
	</link>
	<link name="12106">
		<visual>
			<geometry>
				<cylinder length="0.35874076210707495" radius="0.4950138678047672"/>
			</geometry>
		</visual>
		<collision>
			<geometry>
				<cylinder length="0.35874076210707495" radius="0.4950138678047672"/>
			</geometry>
		</collision>
		<inertial>
			<mass value="0.27616289759503065"/>
			<inertia ixx="0.03" iyy="0.03" izz="0.03" ixy="0" ixz="0" iyx="0"/>
		</inertial>
	</link>
	<link name="19107">
		<visual>
			<geometry>
				<cylinder length="0.6353588741446312" radius="0.19022579933833428"/>
			</geometry>
		</visual>
		<collision>
			<geometry>
				<cylinder length="0.6353588741446312" radius="0.19022579933833428"/>
			</geometry>
		</collision>
		<inertial>
			<mass value="0.07222836902534091"/>
			<inertia ixx="0.03" iyy="0.03" izz="0.03" ixy="0" ixz="0" iyx="0"/>
		</inertial>
	</link>
	<link name="19108">
		<visual>
			<geometry>
				<cylinder length="0.6353588741446312" radius="0.19022579933833428"/>
			</geometry>
		</visual>
		<collision>
			<geometry>
				<cylinder length="0.6353588741446312" radius="0.19022579933833428"/>
			</geometry>
		</collision>
		<inertial>
			<mass value="0.07222836902534091"/>
			<inertia ixx="0.03" iyy="0.03" izz="0.03" ixy="0" ixz="0" iyx="0"/>
		</inertial>
	</link>
	<link name="19109">
		<visual>
			<geometry>
				<cylinder length="0.6353588741446312" radius="0.19022579933833428"/>
			</geometry>
		</visual>
		<collision>
			<geometry>
				<cylinder length="0.6353588741446312" radius="0.19022579933833428"/>
			</geometry>
		</collision>
		<inertial>
			<mass value="0.07222836902534091"/>
			<inertia ixx="0.03" iyy="0.03" izz="0.03" ixy="0" ixz="0" iyx="0"/>
		</inertial>
	</link>
	<link name="4110">
		<visual>
			<geometry>
				<cylinder length="0.6693593065825789" radius="0.635332794904155"/>
			</geometry>
		</visual>
		<collision>
			<geometry>
				<cylinder length="0.6693593065825789" radius="0.635332794904155"/>
			</geometry>
		</collision>
		<inertial>
			<mass value="0.8488124203880785"/>
			<inertia ixx="0.03" iyy="0.03" izz="0.03" ixy="0" ixz="0" iyx="0"/>
		</inertial>
	</link>
	<link name="7111">
		<visual>
			<geometry>
				<cylinder length="0.9326576860790267" radius="0.07647080679562102"/>
			</geometry>
		</visual>
		<collision>
			<geometry>
				<cylinder length="0.9326576860790267" radius="0.07647080679562102"/>
			</geometry>
		</collision>
		<inertial>
			<mass value="0.01713418653698961"/>
			<inertia ixx="0.03" iyy="0.03" izz="0.03" ixy="0" ixz="0" iyx="0"/>
		</inertial>
	</link>
	<link name="11112">
		<visual>
			<geometry>
				<cylinder length="0.22853051159511573" radius="0.8571439724761916"/>
			</geometry>
		</visual>
		<collision>
			<geometry>
				<cylinder length="0.22853051159511573" radius="0.8571439724761916"/>
			</geometry>
		</collision>
		<inertial>
			<mass value="0.5274746777931112"/>
			<inertia ixx="0.03" iyy="0.03" izz="0.03" ixy="0" ixz="0" iyx="0"/>
		</inertial>
	</link>
	<link name="17113">
		<visual>
			<geometry>
				<cylinder length="0.5531866113160042" radius="0.8683746985477737"/>
			</geometry>
		</visual>
		<collision>
			<geometry>
				<cylinder length="0.5531866113160042" radius="0.8683746985477737"/>
			</geometry>
		</collision>
		<inertial>
			<mass value="1.3104964696569317"/>
			<inertia ixx="0.03" iyy="0.03" izz="0.03" ixy="0" ixz="0" iyx="0"/>
		</inertial>
	</link>
	<link name="17114">
		<visual>
			<geometry>
				<cylinder length="0.5531866113160042" radius="0.8683746985477737"/>
			</geometry>
		</visual>
		<collision>
			<geometry>
				<cylinder length="0.5531866113160042" radius="0.8683746985477737"/>
			</geometry>
		</collision>
		<inertial>
			<mass value="1.3104964696569317"/>
			<inertia ixx="0.03" iyy="0.03" izz="0.03" ixy="0" ixz="0" iyx="0"/>
		</inertial>
	</link>
	<link name="17115">
		<visual>
			<geometry>
				<cylinder length="0.5531866113160042" radius="0.8683746985477737"/>
			</geometry>
		</visual>
		<collision>
			<geometry>
				<cylinder length="0.5531866113160042" radius="0.8683746985477737"/>
			</geometry>
		</collision>
		<inertial>
			<mass value="1.3104964696569317"/>
			<inertia ixx="0.03" iyy="0.03" izz="0.03" ixy="0" ixz="0" iyx="0"/>
		</inertial>
	</link>
	<link name="11116">
		<visual>
			<geometry>
				<cylinder length="0.22853051159511573" radius="0.8571439724761916"/>
			</geometry>
		</visual>
		<collision>
			<geometry>
				<cylinder length="0.22853051159511573" radius="0.8571439724761916"/>
			</geometry>
		</collision>
		<inertial>
			<mass value="0.5274746777931112"/>
			<inertia ixx="0.03" iyy="0.03" izz="0.03" ixy="0" ixz="0" iyx="0"/>
		</inertial>
	</link>
	<link name="17117">
		<visual>
			<geometry>
				<cylinder length="0.5531866113160042" radius="0.8683746985477737"/>
			</geometry>
		</visual>
		<collision>
			<geometry>
				<cylinder length="0.5531866113160042" radius="0.8683746985477737"/>
			</geometry>
		</collision>
		<inertial>
			<mass value="1.3104964696569317"/>
			<inertia ixx="0.03" iyy="0.03" izz="0.03" ixy="0" ixz="0" iyx="0"/>
		</inertial>
	</link>
	<link name="17118">
		<visual>
			<geometry>
				<cylinder length="0.5531866113160042" radius="0.8683746985477737"/>
			</geometry>
		</visual>
		<collision>
			<geometry>
				<cylinder length="0.5531866113160042" radius="0.8683746985477737"/>
			</geometry>
		</collision>
		<inertial>
			<mass value="1.3104964696569317"/>
			<inertia ixx="0.03" iyy="0.03" izz="0.03" ixy="0" ixz="0" iyx="0"/>
		</inertial>
	</link>
	<link name="17119">
		<visual>
			<geometry>
				<cylinder length="0.5531866113160042" radius="0.8683746985477737"/>
			</geometry>
		</visual>
		<collision>
			<geometry>
				<cylinder length="0.5531866113160042" radius="0.8683746985477737"/>
			</geometry>
		</collision>
		<inertial>
			<mass value="1.3104964696569317"/>
			<inertia ixx="0.03" iyy="0.03" izz="0.03" ixy="0" ixz="0" iyx="0"/>
		</inertial>
	</link>
	<link name="11120">
		<visual>
			<geometry>
				<cylinder length="0.22853051159511573" radius="0.8571439724761916"/>
			</geometry>
		</visual>
		<collision>
			<geometry>
				<cylinder length="0.22853051159511573" radius="0.8571439724761916"/>
			</geometry>
		</collision>
		<inertial>
			<mass value="0.5274746777931112"/>
			<inertia ixx="0.03" iyy="0.03" izz="0.03" ixy="0" ixz="0" iyx="0"/>
		</inertial>
	</link>
	<link name="17121">
		<visual>
			<geometry>
				<cylinder length="0.5531866113160042" radius="0.8683746985477737"/>
			</geometry>
		</visual>
		<collision>
			<geometry>
				<cylinder length="0.5531866113160042" radius="0.8683746985477737"/>
			</geometry>
		</collision>
		<inertial>
			<mass value="1.3104964696569317"/>
			<inertia ixx="0.03" iyy="0.03" izz="0.03" ixy="0" ixz="0" iyx="0"/>
		</inertial>
	</link>
	<link name="17122">
		<visual>
			<geometry>
				<cylinder length="0.5531866113160042" radius="0.8683746985477737"/>
			</geometry>
		</visual>
		<collision>
			<geometry>
				<cylinder length="0.5531866113160042" radius="0.8683746985477737"/>
			</geometry>
		</collision>
		<inertial>
			<mass value="1.3104964696569317"/>
			<inertia ixx="0.03" iyy="0.03" izz="0.03" ixy="0" ixz="0" iyx="0"/>
		</inertial>
	</link>
	<link name="17123">
		<visual>
			<geometry>
				<cylinder length="0.5531866113160042" radius="0.8683746985477737"/>
			</geometry>
		</visual>
		<collision>
			<geometry>
				<cylinder length="0.5531866113160042" radius="0.8683746985477737"/>
			</geometry>
		</collision>
		<inertial>
			<mass value="1.3104964696569317"/>
			<inertia ixx="0.03" iyy="0.03" izz="0.03" ixy="0" ixz="0" iyx="0"/>
		</inertial>
	</link>
	<link name="11124">
		<visual>
			<geometry>
				<cylinder length="0.22853051159511573" radius="0.8571439724761916"/>
			</geometry>
		</visual>
		<collision>
			<geometry>
				<cylinder length="0.22853051159511573" radius="0.8571439724761916"/>
			</geometry>
		</collision>
		<inertial>
			<mass value="0.5274746777931112"/>
			<inertia ixx="0.03" iyy="0.03" izz="0.03" ixy="0" ixz="0" iyx="0"/>
		</inertial>
	</link>
	<link name="17125">
		<visual>
			<geometry>
				<cylinder length="0.5531866113160042" radius="0.8683746985477737"/>
			</geometry>
		</visual>
		<collision>
			<geometry>
				<cylinder length="0.5531866113160042" radius="0.8683746985477737"/>
			</geometry>
		</collision>
		<inertial>
			<mass value="1.3104964696569317"/>
			<inertia ixx="0.03" iyy="0.03" izz="0.03" ixy="0" ixz="0" iyx="0"/>
		</inertial>
	</link>
	<link name="17126">
		<visual>
			<geometry>
				<cylinder length="0.5531866113160042" radius="0.8683746985477737"/>
			</geometry>
		</visual>
		<collision>
			<geometry>
				<cylinder length="0.5531866113160042" radius="0.8683746985477737"/>
			</geometry>
		</collision>
		<inertial>
			<mass value="1.3104964696569317"/>
			<inertia ixx="0.03" iyy="0.03" izz="0.03" ixy="0" ixz="0" iyx="0"/>
		</inertial>
	</link>
	<link name="17127">
		<visual>
			<geometry>
				<cylinder length="0.5531866113160042" radius="0.8683746985477737"/>
			</geometry>
		</visual>
		<collision>
			<geometry>
				<cylinder length="0.5531866113160042" radius="0.8683746985477737"/>
			</geometry>
		</collision>
		<inertial>
			<mass value="1.3104964696569317"/>
			<inertia ixx="0.03" iyy="0.03" izz="0.03" ixy="0" ixz="0" iyx="0"/>
		</inertial>
	</link>
	<link name="7128">
		<visual>
			<geometry>
				<cylinder length="0.9326576860790267" radius="0.07647080679562102"/>
			</geometry>
		</visual>
		<collision>
			<geometry>
				<cylinder length="0.9326576860790267" radius="0.07647080679562102"/>
			</geometry>
		</collision>
		<inertial>
			<mass value="0.01713418653698961"/>
			<inertia ixx="0.03" iyy="0.03" izz="0.03" ixy="0" ixz="0" iyx="0"/>
		</inertial>
	</link>
	<link name="11129">
		<visual>
			<geometry>
				<cylinder length="0.22853051159511573" radius="0.8571439724761916"/>
			</geometry>
		</visual>
		<collision>
			<geometry>
				<cylinder length="0.22853051159511573" radius="0.8571439724761916"/>
			</geometry>
		</collision>
		<inertial>
			<mass value="0.5274746777931112"/>
			<inertia ixx="0.03" iyy="0.03" izz="0.03" ixy="0" ixz="0" iyx="0"/>
		</inertial>
	</link>
	<link name="17130">
		<visual>
			<geometry>
				<cylinder length="0.5531866113160042" radius="0.8683746985477737"/>
			</geometry>
		</visual>
		<collision>
			<geometry>
				<cylinder length="0.5531866113160042" radius="0.8683746985477737"/>
			</geometry>
		</collision>
		<inertial>
			<mass value="1.3104964696569317"/>
			<inertia ixx="0.03" iyy="0.03" izz="0.03" ixy="0" ixz="0" iyx="0"/>
		</inertial>
	</link>
	<link name="17131">
		<visual>
			<geometry>
				<cylinder length="0.5531866113160042" radius="0.8683746985477737"/>
			</geometry>
		</visual>
		<collision>
			<geometry>
				<cylinder length="0.5531866113160042" radius="0.8683746985477737"/>
			</geometry>
		</collision>
		<inertial>
			<mass value="1.3104964696569317"/>
			<inertia ixx="0.03" iyy="0.03" izz="0.03" ixy="0" ixz="0" iyx="0"/>
		</inertial>
	</link>
	<link name="17132">
		<visual>
			<geometry>
				<cylinder length="0.5531866113160042" radius="0.8683746985477737"/>
			</geometry>
		</visual>
		<collision>
			<geometry>
				<cylinder length="0.5531866113160042" radius="0.8683746985477737"/>
			</geometry>
		</collision>
		<inertial>
			<mass value="1.3104964696569317"/>
			<inertia ixx="0.03" iyy="0.03" izz="0.03" ixy="0" ixz="0" iyx="0"/>
		</inertial>
	</link>
	<link name="11133">
		<visual>
			<geometry>
				<cylinder length="0.22853051159511573" radius="0.8571439724761916"/>
			</geometry>
		</visual>
		<collision>
			<geometry>
				<cylinder length="0.22853051159511573" radius="0.8571439724761916"/>
			</geometry>
		</collision>
		<inertial>
			<mass value="0.5274746777931112"/>
			<inertia ixx="0.03" iyy="0.03" izz="0.03" ixy="0" ixz="0" iyx="0"/>
		</inertial>
	</link>
	<link name="17134">
		<visual>
			<geometry>
				<cylinder length="0.5531866113160042" radius="0.8683746985477737"/>
			</geometry>
		</visual>
		<collision>
			<geometry>
				<cylinder length="0.5531866113160042" radius="0.8683746985477737"/>
			</geometry>
		</collision>
		<inertial>
			<mass value="1.3104964696569317"/>
			<inertia ixx="0.03" iyy="0.03" izz="0.03" ixy="0" ixz="0" iyx="0"/>
		</inertial>
	</link>
	<link name="17135">
		<visual>
			<geometry>
				<cylinder length="0.5531866113160042" radius="0.8683746985477737"/>
			</geometry>
		</visual>
		<collision>
			<geometry>
				<cylinder length="0.5531866113160042" radius="0.8683746985477737"/>
			</geometry>
		</collision>
		<inertial>
			<mass value="1.3104964696569317"/>
			<inertia ixx="0.03" iyy="0.03" izz="0.03" ixy="0" ixz="0" iyx="0"/>
		</inertial>
	</link>
	<link name="17136">
		<visual>
			<geometry>
				<cylinder length="0.5531866113160042" radius="0.8683746985477737"/>
			</geometry>
		</visual>
		<collision>
			<geometry>
				<cylinder length="0.5531866113160042" radius="0.8683746985477737"/>
			</geometry>
		</collision>
		<inertial>
			<mass value="1.3104964696569317"/>
			<inertia ixx="0.03" iyy="0.03" izz="0.03" ixy="0" ixz="0" iyx="0"/>
		</inertial>
	</link>
	<link name="11137">
		<visual>
			<geometry>
				<cylinder length="0.22853051159511573" radius="0.8571439724761916"/>
			</geometry>
		</visual>
		<collision>
			<geometry>
				<cylinder length="0.22853051159511573" radius="0.8571439724761916"/>
			</geometry>
		</collision>
		<inertial>
			<mass value="0.5274746777931112"/>
			<inertia ixx="0.03" iyy="0.03" izz="0.03" ixy="0" ixz="0" iyx="0"/>
		</inertial>
	</link>
	<link name="17138">
		<visual>
			<geometry>
				<cylinder length="0.5531866113160042" radius="0.8683746985477737"/>
			</geometry>
		</visual>
		<collision>
			<geometry>
				<cylinder length="0.5531866113160042" radius="0.8683746985477737"/>
			</geometry>
		</collision>
		<inertial>
			<mass value="1.3104964696569317"/>
			<inertia ixx="0.03" iyy="0.03" izz="0.03" ixy="0" ixz="0" iyx="0"/>
		</inertial>
	</link>
	<link name="17139">
		<visual>
			<geometry>
				<cylinder length="0.5531866113160042" radius="0.8683746985477737"/>
			</geometry>
		</visual>
		<collision>
			<geometry>
				<cylinder length="0.5531866113160042" radius="0.8683746985477737"/>
			</geometry>
		</collision>
		<inertial>
			<mass value="1.3104964696569317"/>
			<inertia ixx="0.03" iyy="0.03" izz="0.03" ixy="0" ixz="0" iyx="0"/>
		</inertial>
	</link>
	<link name="17140">
		<visual>
			<geometry>
				<cylinder length="0.5531866113160042" radius="0.8683746985477737"/>
			</geometry>
		</visual>
		<collision>
			<geometry>
				<cylinder length="0.5531866113160042" radius="0.8683746985477737"/>
			</geometry>
		</collision>
		<inertial>
			<mass value="1.3104964696569317"/>
			<inertia ixx="0.03" iyy="0.03" izz="0.03" ixy="0" ixz="0" iyx="0"/>
		</inertial>
	</link>
	<link name="11141">
		<visual>
			<geometry>
				<cylinder length="0.22853051159511573" radius="0.8571439724761916"/>
			</geometry>
		</visual>
		<collision>
			<geometry>
				<cylinder length="0.22853051159511573" radius="0.8571439724761916"/>
			</geometry>
		</collision>
		<inertial>
			<mass value="0.5274746777931112"/>
			<inertia ixx="0.03" iyy="0.03" izz="0.03" ixy="0" ixz="0" iyx="0"/>
		</inertial>
	</link>
	<link name="17142">
		<visual>
			<geometry>
				<cylinder length="0.5531866113160042" radius="0.8683746985477737"/>
			</geometry>
		</visual>
		<collision>
			<geometry>
				<cylinder length="0.5531866113160042" radius="0.8683746985477737"/>
			</geometry>
		</collision>
		<inertial>
			<mass value="1.3104964696569317"/>
			<inertia ixx="0.03" iyy="0.03" izz="0.03" ixy="0" ixz="0" iyx="0"/>
		</inertial>
	</link>
	<link name="17143">
		<visual>
			<geometry>
				<cylinder length="0.5531866113160042" radius="0.8683746985477737"/>
			</geometry>
		</visual>
		<collision>
			<geometry>
				<cylinder length="0.5531866113160042" radius="0.8683746985477737"/>
			</geometry>
		</collision>
		<inertial>
			<mass value="1.3104964696569317"/>
			<inertia ixx="0.03" iyy="0.03" izz="0.03" ixy="0" ixz="0" iyx="0"/>
		</inertial>
	</link>
	<link name="17144">
		<visual>
			<geometry>
				<cylinder length="0.5531866113160042" radius="0.8683746985477737"/>
			</geometry>
		</visual>
		<collision>
			<geometry>
				<cylinder length="0.5531866113160042" radius="0.8683746985477737"/>
			</geometry>
		</collision>
		<inertial>
			<mass value="1.3104964696569317"/>
			<inertia ixx="0.03" iyy="0.03" izz="0.03" ixy="0" ixz="0" iyx="0"/>
		</inertial>
	</link>
	<link name="9145">
		<visual>
			<geometry>
				<cylinder length="0.1644261260530585" radius="0.7020603986911814"/>
			</geometry>
		</visual>
		<collision>
			<geometry>
				<cylinder length="0.1644261260530585" radius="0.7020603986911814"/>
			</geometry>
		</collision>
		<inertial>
			<mass value="0.25460659576532496"/>
			<inertia ixx="0.03" iyy="0.03" izz="0.03" ixy="0" ixz="0" iyx="0"/>
		</inertial>
	</link>
	<link name="15146">
		<visual>
			<geometry>
				<cylinder length="0.2604931095755788" radius="0.7222788637074065"/>
			</geometry>
		</visual>
		<collision>
			<geometry>
				<cylinder length="0.2604931095755788" radius="0.7222788637074065"/>
			</geometry>
		</collision>
		<inertial>
			<mass value="0.4269292643522967"/>
			<inertia ixx="0.03" iyy="0.03" izz="0.03" ixy="0" ixz="0" iyx="0"/>
		</inertial>
	</link>
	<link name="15147">
		<visual>
			<geometry>
				<cylinder length="0.2604931095755788" radius="0.7222788637074065"/>
			</geometry>
		</visual>
		<collision>
			<geometry>
				<cylinder length="0.2604931095755788" radius="0.7222788637074065"/>
			</geometry>
		</collision>
		<inertial>
			<mass value="0.4269292643522967"/>
			<inertia ixx="0.03" iyy="0.03" izz="0.03" ixy="0" ixz="0" iyx="0"/>
		</inertial>
	</link>
	<link name="15148">
		<visual>
			<geometry>
				<cylinder length="0.2604931095755788" radius="0.7222788637074065"/>
			</geometry>
		</visual>
		<collision>
			<geometry>
				<cylinder length="0.2604931095755788" radius="0.7222788637074065"/>
			</geometry>
		</collision>
		<inertial>
			<mass value="0.4269292643522967"/>
			<inertia ixx="0.03" iyy="0.03" izz="0.03" ixy="0" ixz="0" iyx="0"/>
		</inertial>
	</link>
	<link name="9149">
		<visual>
			<geometry>
				<cylinder length="0.1644261260530585" radius="0.7020603986911814"/>
			</geometry>
		</visual>
		<collision>
			<geometry>
				<cylinder length="0.1644261260530585" radius="0.7020603986911814"/>
			</geometry>
		</collision>
		<inertial>
			<mass value="0.25460659576532496"/>
			<inertia ixx="0.03" iyy="0.03" izz="0.03" ixy="0" ixz="0" iyx="0"/>
		</inertial>
	</link>
	<link name="15150">
		<visual>
			<geometry>
				<cylinder length="0.2604931095755788" radius="0.7222788637074065"/>
			</geometry>
		</visual>
		<collision>
			<geometry>
				<cylinder length="0.2604931095755788" radius="0.7222788637074065"/>
			</geometry>
		</collision>
		<inertial>
			<mass value="0.4269292643522967"/>
			<inertia ixx="0.03" iyy="0.03" izz="0.03" ixy="0" ixz="0" iyx="0"/>
		</inertial>
	</link>
	<link name="15151">
		<visual>
			<geometry>
				<cylinder length="0.2604931095755788" radius="0.7222788637074065"/>
			</geometry>
		</visual>
		<collision>
			<geometry>
				<cylinder length="0.2604931095755788" radius="0.7222788637074065"/>
			</geometry>
		</collision>
		<inertial>
			<mass value="0.4269292643522967"/>
			<inertia ixx="0.03" iyy="0.03" izz="0.03" ixy="0" ixz="0" iyx="0"/>
		</inertial>
	</link>
	<link name="15152">
		<visual>
			<geometry>
				<cylinder length="0.2604931095755788" radius="0.7222788637074065"/>
			</geometry>
		</visual>
		<collision>
			<geometry>
				<cylinder length="0.2604931095755788" radius="0.7222788637074065"/>
			</geometry>
		</collision>
		<inertial>
			<mass value="0.4269292643522967"/>
			<inertia ixx="0.03" iyy="0.03" izz="0.03" ixy="0" ixz="0" iyx="0"/>
		</inertial>
	</link>
	<link name="9153">
		<visual>
			<geometry>
				<cylinder length="0.1644261260530585" radius="0.7020603986911814"/>
			</geometry>
		</visual>
		<collision>
			<geometry>
				<cylinder length="0.1644261260530585" radius="0.7020603986911814"/>
			</geometry>
		</collision>
		<inertial>
			<mass value="0.25460659576532496"/>
			<inertia ixx="0.03" iyy="0.03" izz="0.03" ixy="0" ixz="0" iyx="0"/>
		</inertial>
	</link>
	<link name="15154">
		<visual>
			<geometry>
				<cylinder length="0.2604931095755788" radius="0.7222788637074065"/>
			</geometry>
		</visual>
		<collision>
			<geometry>
				<cylinder length="0.2604931095755788" radius="0.7222788637074065"/>
			</geometry>
		</collision>
		<inertial>
			<mass value="0.4269292643522967"/>
			<inertia ixx="0.03" iyy="0.03" izz="0.03" ixy="0" ixz="0" iyx="0"/>
		</inertial>
	</link>
	<link name="15155">
		<visual>
			<geometry>
				<cylinder length="0.2604931095755788" radius="0.7222788637074065"/>
			</geometry>
		</visual>
		<collision>
			<geometry>
				<cylinder length="0.2604931095755788" radius="0.7222788637074065"/>
			</geometry>
		</collision>
		<inertial>
			<mass value="0.4269292643522967"/>
			<inertia ixx="0.03" iyy="0.03" izz="0.03" ixy="0" ixz="0" iyx="0"/>
		</inertial>
	</link>
	<link name="15156">
		<visual>
			<geometry>
				<cylinder length="0.2604931095755788" radius="0.7222788637074065"/>
			</geometry>
		</visual>
		<collision>
			<geometry>
				<cylinder length="0.2604931095755788" radius="0.7222788637074065"/>
			</geometry>
		</collision>
		<inertial>
			<mass value="0.4269292643522967"/>
			<inertia ixx="0.03" iyy="0.03" izz="0.03" ixy="0" ixz="0" iyx="0"/>
		</inertial>
	</link>
	<link name="9157">
		<visual>
			<geometry>
				<cylinder length="0.1644261260530585" radius="0.7020603986911814"/>
			</geometry>
		</visual>
		<collision>
			<geometry>
				<cylinder length="0.1644261260530585" radius="0.7020603986911814"/>
			</geometry>
		</collision>
		<inertial>
			<mass value="0.25460659576532496"/>
			<inertia ixx="0.03" iyy="0.03" izz="0.03" ixy="0" ixz="0" iyx="0"/>
		</inertial>
	</link>
	<link name="15158">
		<visual>
			<geometry>
				<cylinder length="0.2604931095755788" radius="0.7222788637074065"/>
			</geometry>
		</visual>
		<collision>
			<geometry>
				<cylinder length="0.2604931095755788" radius="0.7222788637074065"/>
			</geometry>
		</collision>
		<inertial>
			<mass value="0.4269292643522967"/>
			<inertia ixx="0.03" iyy="0.03" izz="0.03" ixy="0" ixz="0" iyx="0"/>
		</inertial>
	</link>
	<link name="15159">
		<visual>
			<geometry>
				<cylinder length="0.2604931095755788" radius="0.7222788637074065"/>
			</geometry>
		</visual>
		<collision>
			<geometry>
				<cylinder length="0.2604931095755788" radius="0.7222788637074065"/>
			</geometry>
		</collision>
		<inertial>
			<mass value="0.4269292643522967"/>
			<inertia ixx="0.03" iyy="0.03" izz="0.03" ixy="0" ixz="0" iyx="0"/>
		</inertial>
	</link>
	<link name="15160">
		<visual>
			<geometry>
				<cylinder length="0.2604931095755788" radius="0.7222788637074065"/>
			</geometry>
		</visual>
		<collision>
			<geometry>
				<cylinder length="0.2604931095755788" radius="0.7222788637074065"/>
			</geometry>
		</collision>
		<inertial>
			<mass value="0.4269292643522967"/>
			<inertia ixx="0.03" iyy="0.03" izz="0.03" ixy="0" ixz="0" iyx="0"/>
		</inertial>
	</link>
	<link name="16161">
		<visual>
			<geometry>
				<cylinder length="0.7901912508135676" radius="0.07699769448409"/>
			</geometry>
		</visual>
		<collision>
			<geometry>
				<cylinder length="0.7901912508135676" radius="0.07699769448409"/>
			</geometry>
		</collision>
		<inertial>
			<mass value="0.014717618197380648"/>
			<inertia ixx="0.03" iyy="0.03" izz="0.03" ixy="0" ixz="0" iyx="0"/>
		</inertial>
	</link>
	<link name="4162">
		<visual>
			<geometry>
				<cylinder length="0.6693593065825789" radius="0.635332794904155"/>
			</geometry>
		</visual>
		<collision>
			<geometry>
				<cylinder length="0.6693593065825789" radius="0.635332794904155"/>
			</geometry>
		</collision>
		<inertial>
			<mass value="0.8488124203880785"/>
			<inertia ixx="0.03" iyy="0.03" izz="0.03" ixy="0" ixz="0" iyx="0"/>
		</inertial>
	</link>
	<link name="7163">
		<visual>
			<geometry>
				<cylinder length="0.9326576860790267" radius="0.07647080679562102"/>
			</geometry>
		</visual>
		<collision>
			<geometry>
				<cylinder length="0.9326576860790267" radius="0.07647080679562102"/>
			</geometry>
		</collision>
		<inertial>
			<mass value="0.01713418653698961"/>
			<inertia ixx="0.03" iyy="0.03" izz="0.03" ixy="0" ixz="0" iyx="0"/>
		</inertial>
	</link>
	<link name="11164">
		<visual>
			<geometry>
				<cylinder length="0.22853051159511573" radius="0.8571439724761916"/>
			</geometry>
		</visual>
		<collision>
			<geometry>
				<cylinder length="0.22853051159511573" radius="0.8571439724761916"/>
			</geometry>
		</collision>
		<inertial>
			<mass value="0.5274746777931112"/>
			<inertia ixx="0.03" iyy="0.03" izz="0.03" ixy="0" ixz="0" iyx="0"/>
		</inertial>
	</link>
	<link name="17165">
		<visual>
			<geometry>
				<cylinder length="0.5531866113160042" radius="0.8683746985477737"/>
			</geometry>
		</visual>
		<collision>
			<geometry>
				<cylinder length="0.5531866113160042" radius="0.8683746985477737"/>
			</geometry>
		</collision>
		<inertial>
			<mass value="1.3104964696569317"/>
			<inertia ixx="0.03" iyy="0.03" izz="0.03" ixy="0" ixz="0" iyx="0"/>
		</inertial>
	</link>
	<link name="17166">
		<visual>
			<geometry>
				<cylinder length="0.5531866113160042" radius="0.8683746985477737"/>
			</geometry>
		</visual>
		<collision>
			<geometry>
				<cylinder length="0.5531866113160042" radius="0.8683746985477737"/>
			</geometry>
		</collision>
		<inertial>
			<mass value="1.3104964696569317"/>
			<inertia ixx="0.03" iyy="0.03" izz="0.03" ixy="0" ixz="0" iyx="0"/>
		</inertial>
	</link>
	<link name="17167">
		<visual>
			<geometry>
				<cylinder length="0.5531866113160042" radius="0.8683746985477737"/>
			</geometry>
		</visual>
		<collision>
			<geometry>
				<cylinder length="0.5531866113160042" radius="0.8683746985477737"/>
			</geometry>
		</collision>
		<inertial>
			<mass value="1.3104964696569317"/>
			<inertia ixx="0.03" iyy="0.03" izz="0.03" ixy="0" ixz="0" iyx="0"/>
		</inertial>
	</link>
	<link name="11168">
		<visual>
			<geometry>
				<cylinder length="0.22853051159511573" radius="0.8571439724761916"/>
			</geometry>
		</visual>
		<collision>
			<geometry>
				<cylinder length="0.22853051159511573" radius="0.8571439724761916"/>
			</geometry>
		</collision>
		<inertial>
			<mass value="0.5274746777931112"/>
			<inertia ixx="0.03" iyy="0.03" izz="0.03" ixy="0" ixz="0" iyx="0"/>
		</inertial>
	</link>
	<link name="17169">
		<visual>
			<geometry>
				<cylinder length="0.5531866113160042" radius="0.8683746985477737"/>
			</geometry>
		</visual>
		<collision>
			<geometry>
				<cylinder length="0.5531866113160042" radius="0.8683746985477737"/>
			</geometry>
		</collision>
		<inertial>
			<mass value="1.3104964696569317"/>
			<inertia ixx="0.03" iyy="0.03" izz="0.03" ixy="0" ixz="0" iyx="0"/>
		</inertial>
	</link>
	<link name="17170">
		<visual>
			<geometry>
				<cylinder length="0.5531866113160042" radius="0.8683746985477737"/>
			</geometry>
		</visual>
		<collision>
			<geometry>
				<cylinder length="0.5531866113160042" radius="0.8683746985477737"/>
			</geometry>
		</collision>
		<inertial>
			<mass value="1.3104964696569317"/>
			<inertia ixx="0.03" iyy="0.03" izz="0.03" ixy="0" ixz="0" iyx="0"/>
		</inertial>
	</link>
	<link name="17171">
		<visual>
			<geometry>
				<cylinder length="0.5531866113160042" radius="0.8683746985477737"/>
			</geometry>
		</visual>
		<collision>
			<geometry>
				<cylinder length="0.5531866113160042" radius="0.8683746985477737"/>
			</geometry>
		</collision>
		<inertial>
			<mass value="1.3104964696569317"/>
			<inertia ixx="0.03" iyy="0.03" izz="0.03" ixy="0" ixz="0" iyx="0"/>
		</inertial>
	</link>
	<link name="11172">
		<visual>
			<geometry>
				<cylinder length="0.22853051159511573" radius="0.8571439724761916"/>
			</geometry>
		</visual>
		<collision>
			<geometry>
				<cylinder length="0.22853051159511573" radius="0.8571439724761916"/>
			</geometry>
		</collision>
		<inertial>
			<mass value="0.5274746777931112"/>
			<inertia ixx="0.03" iyy="0.03" izz="0.03" ixy="0" ixz="0" iyx="0"/>
		</inertial>
	</link>
	<link name="17173">
		<visual>
			<geometry>
				<cylinder length="0.5531866113160042" radius="0.8683746985477737"/>
			</geometry>
		</visual>
		<collision>
			<geometry>
				<cylinder length="0.5531866113160042" radius="0.8683746985477737"/>
			</geometry>
		</collision>
		<inertial>
			<mass value="1.3104964696569317"/>
			<inertia ixx="0.03" iyy="0.03" izz="0.03" ixy="0" ixz="0" iyx="0"/>
		</inertial>
	</link>
	<link name="17174">
		<visual>
			<geometry>
				<cylinder length="0.5531866113160042" radius="0.8683746985477737"/>
			</geometry>
		</visual>
		<collision>
			<geometry>
				<cylinder length="0.5531866113160042" radius="0.8683746985477737"/>
			</geometry>
		</collision>
		<inertial>
			<mass value="1.3104964696569317"/>
			<inertia ixx="0.03" iyy="0.03" izz="0.03" ixy="0" ixz="0" iyx="0"/>
		</inertial>
	</link>
	<link name="17175">
		<visual>
			<geometry>
				<cylinder length="0.5531866113160042" radius="0.8683746985477737"/>
			</geometry>
		</visual>
		<collision>
			<geometry>
				<cylinder length="0.5531866113160042" radius="0.8683746985477737"/>
			</geometry>
		</collision>
		<inertial>
			<mass value="1.3104964696569317"/>
			<inertia ixx="0.03" iyy="0.03" izz="0.03" ixy="0" ixz="0" iyx="0"/>
		</inertial>
	</link>
	<link name="11176">
		<visual>
			<geometry>
				<cylinder length="0.22853051159511573" radius="0.8571439724761916"/>
			</geometry>
		</visual>
		<collision>
			<geometry>
				<cylinder length="0.22853051159511573" radius="0.8571439724761916"/>
			</geometry>
		</collision>
		<inertial>
			<mass value="0.5274746777931112"/>
			<inertia ixx="0.03" iyy="0.03" izz="0.03" ixy="0" ixz="0" iyx="0"/>
		</inertial>
	</link>
	<link name="17177">
		<visual>
			<geometry>
				<cylinder length="0.5531866113160042" radius="0.8683746985477737"/>
			</geometry>
		</visual>
		<collision>
			<geometry>
				<cylinder length="0.5531866113160042" radius="0.8683746985477737"/>
			</geometry>
		</collision>
		<inertial>
			<mass value="1.3104964696569317"/>
			<inertia ixx="0.03" iyy="0.03" izz="0.03" ixy="0" ixz="0" iyx="0"/>
		</inertial>
	</link>
	<link name="17178">
		<visual>
			<geometry>
				<cylinder length="0.5531866113160042" radius="0.8683746985477737"/>
			</geometry>
		</visual>
		<collision>
			<geometry>
				<cylinder length="0.5531866113160042" radius="0.8683746985477737"/>
			</geometry>
		</collision>
		<inertial>
			<mass value="1.3104964696569317"/>
			<inertia ixx="0.03" iyy="0.03" izz="0.03" ixy="0" ixz="0" iyx="0"/>
		</inertial>
	</link>
	<link name="17179">
		<visual>
			<geometry>
				<cylinder length="0.5531866113160042" radius="0.8683746985477737"/>
			</geometry>
		</visual>
		<collision>
			<geometry>
				<cylinder length="0.5531866113160042" radius="0.8683746985477737"/>
			</geometry>
		</collision>
		<inertial>
			<mass value="1.3104964696569317"/>
			<inertia ixx="0.03" iyy="0.03" izz="0.03" ixy="0" ixz="0" iyx="0"/>
		</inertial>
	</link>
	<link name="7180">
		<visual>
			<geometry>
				<cylinder length="0.9326576860790267" radius="0.07647080679562102"/>
			</geometry>
		</visual>
		<collision>
			<geometry>
				<cylinder length="0.9326576860790267" radius="0.07647080679562102"/>
			</geometry>
		</collision>
		<inertial>
			<mass value="0.01713418653698961"/>
			<inertia ixx="0.03" iyy="0.03" izz="0.03" ixy="0" ixz="0" iyx="0"/>
		</inertial>
	</link>
	<link name="11181">
		<visual>
			<geometry>
				<cylinder length="0.22853051159511573" radius="0.8571439724761916"/>
			</geometry>
		</visual>
		<collision>
			<geometry>
				<cylinder length="0.22853051159511573" radius="0.8571439724761916"/>
			</geometry>
		</collision>
		<inertial>
			<mass value="0.5274746777931112"/>
			<inertia ixx="0.03" iyy="0.03" izz="0.03" ixy="0" ixz="0" iyx="0"/>
		</inertial>
	</link>
	<link name="17182">
		<visual>
			<geometry>
				<cylinder length="0.5531866113160042" radius="0.8683746985477737"/>
			</geometry>
		</visual>
		<collision>
			<geometry>
				<cylinder length="0.5531866113160042" radius="0.8683746985477737"/>
			</geometry>
		</collision>
		<inertial>
			<mass value="1.3104964696569317"/>
			<inertia ixx="0.03" iyy="0.03" izz="0.03" ixy="0" ixz="0" iyx="0"/>
		</inertial>
	</link>
	<link name="17183">
		<visual>
			<geometry>
				<cylinder length="0.5531866113160042" radius="0.8683746985477737"/>
			</geometry>
		</visual>
		<collision>
			<geometry>
				<cylinder length="0.5531866113160042" radius="0.8683746985477737"/>
			</geometry>
		</collision>
		<inertial>
			<mass value="1.3104964696569317"/>
			<inertia ixx="0.03" iyy="0.03" izz="0.03" ixy="0" ixz="0" iyx="0"/>
		</inertial>
	</link>
	<link name="17184">
		<visual>
			<geometry>
				<cylinder length="0.5531866113160042" radius="0.8683746985477737"/>
			</geometry>
		</visual>
		<collision>
			<geometry>
				<cylinder length="0.5531866113160042" radius="0.8683746985477737"/>
			</geometry>
		</collision>
		<inertial>
			<mass value="1.3104964696569317"/>
			<inertia ixx="0.03" iyy="0.03" izz="0.03" ixy="0" ixz="0" iyx="0"/>
		</inertial>
	</link>
	<link name="11185">
		<visual>
			<geometry>
				<cylinder length="0.22853051159511573" radius="0.8571439724761916"/>
			</geometry>
		</visual>
		<collision>
			<geometry>
				<cylinder length="0.22853051159511573" radius="0.8571439724761916"/>
			</geometry>
		</collision>
		<inertial>
			<mass value="0.5274746777931112"/>
			<inertia ixx="0.03" iyy="0.03" izz="0.03" ixy="0" ixz="0" iyx="0"/>
		</inertial>
	</link>
	<link name="17186">
		<visual>
			<geometry>
				<cylinder length="0.5531866113160042" radius="0.8683746985477737"/>
			</geometry>
		</visual>
		<collision>
			<geometry>
				<cylinder length="0.5531866113160042" radius="0.8683746985477737"/>
			</geometry>
		</collision>
		<inertial>
			<mass value="1.3104964696569317"/>
			<inertia ixx="0.03" iyy="0.03" izz="0.03" ixy="0" ixz="0" iyx="0"/>
		</inertial>
	</link>
	<link name="17187">
		<visual>
			<geometry>
				<cylinder length="0.5531866113160042" radius="0.8683746985477737"/>
			</geometry>
		</visual>
		<collision>
			<geometry>
				<cylinder length="0.5531866113160042" radius="0.8683746985477737"/>
			</geometry>
		</collision>
		<inertial>
			<mass value="1.3104964696569317"/>
			<inertia ixx="0.03" iyy="0.03" izz="0.03" ixy="0" ixz="0" iyx="0"/>
		</inertial>
	</link>
	<link name="17188">
		<visual>
			<geometry>
				<cylinder length="0.5531866113160042" radius="0.8683746985477737"/>
			</geometry>
		</visual>
		<collision>
			<geometry>
				<cylinder length="0.5531866113160042" radius="0.8683746985477737"/>
			</geometry>
		</collision>
		<inertial>
			<mass value="1.3104964696569317"/>
			<inertia ixx="0.03" iyy="0.03" izz="0.03" ixy="0" ixz="0" iyx="0"/>
		</inertial>
	</link>
	<link name="11189">
		<visual>
			<geometry>
				<cylinder length="0.22853051159511573" radius="0.8571439724761916"/>
			</geometry>
		</visual>
		<collision>
			<geometry>
				<cylinder length="0.22853051159511573" radius="0.8571439724761916"/>
			</geometry>
		</collision>
		<inertial>
			<mass value="0.5274746777931112"/>
			<inertia ixx="0.03" iyy="0.03" izz="0.03" ixy="0" ixz="0" iyx="0"/>
		</inertial>
	</link>
	<link name="17190">
		<visual>
			<geometry>
				<cylinder length="0.5531866113160042" radius="0.8683746985477737"/>
			</geometry>
		</visual>
		<collision>
			<geometry>
				<cylinder length="0.5531866113160042" radius="0.8683746985477737"/>
			</geometry>
		</collision>
		<inertial>
			<mass value="1.3104964696569317"/>
			<inertia ixx="0.03" iyy="0.03" izz="0.03" ixy="0" ixz="0" iyx="0"/>
		</inertial>
	</link>
	<link name="17191">
		<visual>
			<geometry>
				<cylinder length="0.5531866113160042" radius="0.8683746985477737"/>
			</geometry>
		</visual>
		<collision>
			<geometry>
				<cylinder length="0.5531866113160042" radius="0.8683746985477737"/>
			</geometry>
		</collision>
		<inertial>
			<mass value="1.3104964696569317"/>
			<inertia ixx="0.03" iyy="0.03" izz="0.03" ixy="0" ixz="0" iyx="0"/>
		</inertial>
	</link>
	<link name="17192">
		<visual>
			<geometry>
				<cylinder length="0.5531866113160042" radius="0.8683746985477737"/>
			</geometry>
		</visual>
		<collision>
			<geometry>
				<cylinder length="0.5531866113160042" radius="0.8683746985477737"/>
			</geometry>
		</collision>
		<inertial>
			<mass value="1.3104964696569317"/>
			<inertia ixx="0.03" iyy="0.03" izz="0.03" ixy="0" ixz="0" iyx="0"/>
		</inertial>
	</link>
	<link name="11193">
		<visual>
			<geometry>
				<cylinder length="0.22853051159511573" radius="0.8571439724761916"/>
			</geometry>
		</visual>
		<collision>
			<geometry>
				<cylinder length="0.22853051159511573" radius="0.8571439724761916"/>
			</geometry>
		</collision>
		<inertial>
			<mass value="0.5274746777931112"/>
			<inertia ixx="0.03" iyy="0.03" izz="0.03" ixy="0" ixz="0" iyx="0"/>
		</inertial>
	</link>
	<link name="17194">
		<visual>
			<geometry>
				<cylinder length="0.5531866113160042" radius="0.8683746985477737"/>
			</geometry>
		</visual>
		<collision>
			<geometry>
				<cylinder length="0.5531866113160042" radius="0.8683746985477737"/>
			</geometry>
		</collision>
		<inertial>
			<mass value="1.3104964696569317"/>
			<inertia ixx="0.03" iyy="0.03" izz="0.03" ixy="0" ixz="0" iyx="0"/>
		</inertial>
	</link>
	<link name="17195">
		<visual>
			<geometry>
				<cylinder length="0.5531866113160042" radius="0.8683746985477737"/>
			</geometry>
		</visual>
		<collision>
			<geometry>
				<cylinder length="0.5531866113160042" radius="0.8683746985477737"/>
			</geometry>
		</collision>
		<inertial>
			<mass value="1.3104964696569317"/>
			<inertia ixx="0.03" iyy="0.03" izz="0.03" ixy="0" ixz="0" iyx="0"/>
		</inertial>
	</link>
	<link name="17196">
		<visual>
			<geometry>
				<cylinder length="0.5531866113160042" radius="0.8683746985477737"/>
			</geometry>
		</visual>
		<collision>
			<geometry>
				<cylinder length="0.5531866113160042" radius="0.8683746985477737"/>
			</geometry>
		</collision>
		<inertial>
			<mass value="1.3104964696569317"/>
			<inertia ixx="0.03" iyy="0.03" izz="0.03" ixy="0" ixz="0" iyx="0"/>
		</inertial>
	</link>
	<link name="9197">
		<visual>
			<geometry>
				<cylinder length="0.1644261260530585" radius="0.7020603986911814"/>
			</geometry>
		</visual>
		<collision>
			<geometry>
				<cylinder length="0.1644261260530585" radius="0.7020603986911814"/>
			</geometry>
		</collision>
		<inertial>
			<mass value="0.25460659576532496"/>
			<inertia ixx="0.03" iyy="0.03" izz="0.03" ixy="0" ixz="0" iyx="0"/>
		</inertial>
	</link>
	<link name="15198">
		<visual>
			<geometry>
				<cylinder length="0.2604931095755788" radius="0.7222788637074065"/>
			</geometry>
		</visual>
		<collision>
			<geometry>
				<cylinder length="0.2604931095755788" radius="0.7222788637074065"/>
			</geometry>
		</collision>
		<inertial>
			<mass value="0.4269292643522967"/>
			<inertia ixx="0.03" iyy="0.03" izz="0.03" ixy="0" ixz="0" iyx="0"/>
		</inertial>
	</link>
	<link name="15199">
		<visual>
			<geometry>
				<cylinder length="0.2604931095755788" radius="0.7222788637074065"/>
			</geometry>
		</visual>
		<collision>
			<geometry>
				<cylinder length="0.2604931095755788" radius="0.7222788637074065"/>
			</geometry>
		</collision>
		<inertial>
			<mass value="0.4269292643522967"/>
			<inertia ixx="0.03" iyy="0.03" izz="0.03" ixy="0" ixz="0" iyx="0"/>
		</inertial>
	</link>
	<link name="15200">
		<visual>
			<geometry>
				<cylinder length="0.2604931095755788" radius="0.7222788637074065"/>
			</geometry>
		</visual>
		<collision>
			<geometry>
				<cylinder length="0.2604931095755788" radius="0.7222788637074065"/>
			</geometry>
		</collision>
		<inertial>
			<mass value="0.4269292643522967"/>
			<inertia ixx="0.03" iyy="0.03" izz="0.03" ixy="0" ixz="0" iyx="0"/>
		</inertial>
	</link>
	<link name="9201">
		<visual>
			<geometry>
				<cylinder length="0.1644261260530585" radius="0.7020603986911814"/>
			</geometry>
		</visual>
		<collision>
			<geometry>
				<cylinder length="0.1644261260530585" radius="0.7020603986911814"/>
			</geometry>
		</collision>
		<inertial>
			<mass value="0.25460659576532496"/>
			<inertia ixx="0.03" iyy="0.03" izz="0.03" ixy="0" ixz="0" iyx="0"/>
		</inertial>
	</link>
	<link name="15202">
		<visual>
			<geometry>
				<cylinder length="0.2604931095755788" radius="0.7222788637074065"/>
			</geometry>
		</visual>
		<collision>
			<geometry>
				<cylinder length="0.2604931095755788" radius="0.7222788637074065"/>
			</geometry>
		</collision>
		<inertial>
			<mass value="0.4269292643522967"/>
			<inertia ixx="0.03" iyy="0.03" izz="0.03" ixy="0" ixz="0" iyx="0"/>
		</inertial>
	</link>
	<link name="15203">
		<visual>
			<geometry>
				<cylinder length="0.2604931095755788" radius="0.7222788637074065"/>
			</geometry>
		</visual>
		<collision>
			<geometry>
				<cylinder length="0.2604931095755788" radius="0.7222788637074065"/>
			</geometry>
		</collision>
		<inertial>
			<mass value="0.4269292643522967"/>
			<inertia ixx="0.03" iyy="0.03" izz="0.03" ixy="0" ixz="0" iyx="0"/>
		</inertial>
	</link>
	<link name="15204">
		<visual>
			<geometry>
				<cylinder length="0.2604931095755788" radius="0.7222788637074065"/>
			</geometry>
		</visual>
		<collision>
			<geometry>
				<cylinder length="0.2604931095755788" radius="0.7222788637074065"/>
			</geometry>
		</collision>
		<inertial>
			<mass value="0.4269292643522967"/>
			<inertia ixx="0.03" iyy="0.03" izz="0.03" ixy="0" ixz="0" iyx="0"/>
		</inertial>
	</link>
	<link name="9205">
		<visual>
			<geometry>
				<cylinder length="0.1644261260530585" radius="0.7020603986911814"/>
			</geometry>
		</visual>
		<collision>
			<geometry>
				<cylinder length="0.1644261260530585" radius="0.7020603986911814"/>
			</geometry>
		</collision>
		<inertial>
			<mass value="0.25460659576532496"/>
			<inertia ixx="0.03" iyy="0.03" izz="0.03" ixy="0" ixz="0" iyx="0"/>
		</inertial>
	</link>
	<link name="15206">
		<visual>
			<geometry>
				<cylinder length="0.2604931095755788" radius="0.7222788637074065"/>
			</geometry>
		</visual>
		<collision>
			<geometry>
				<cylinder length="0.2604931095755788" radius="0.7222788637074065"/>
			</geometry>
		</collision>
		<inertial>
			<mass value="0.4269292643522967"/>
			<inertia ixx="0.03" iyy="0.03" izz="0.03" ixy="0" ixz="0" iyx="0"/>
		</inertial>
	</link>
	<link name="15207">
		<visual>
			<geometry>
				<cylinder length="0.2604931095755788" radius="0.7222788637074065"/>
			</geometry>
		</visual>
		<collision>
			<geometry>
				<cylinder length="0.2604931095755788" radius="0.7222788637074065"/>
			</geometry>
		</collision>
		<inertial>
			<mass value="0.4269292643522967"/>
			<inertia ixx="0.03" iyy="0.03" izz="0.03" ixy="0" ixz="0" iyx="0"/>
		</inertial>
	</link>
	<link name="15208">
		<visual>
			<geometry>
				<cylinder length="0.2604931095755788" radius="0.7222788637074065"/>
			</geometry>
		</visual>
		<collision>
			<geometry>
				<cylinder length="0.2604931095755788" radius="0.7222788637074065"/>
			</geometry>
		</collision>
		<inertial>
			<mass value="0.4269292643522967"/>
			<inertia ixx="0.03" iyy="0.03" izz="0.03" ixy="0" ixz="0" iyx="0"/>
		</inertial>
	</link>
	<link name="9209">
		<visual>
			<geometry>
				<cylinder length="0.1644261260530585" radius="0.7020603986911814"/>
			</geometry>
		</visual>
		<collision>
			<geometry>
				<cylinder length="0.1644261260530585" radius="0.7020603986911814"/>
			</geometry>
		</collision>
		<inertial>
			<mass value="0.25460659576532496"/>
			<inertia ixx="0.03" iyy="0.03" izz="0.03" ixy="0" ixz="0" iyx="0"/>
		</inertial>
	</link>
	<link name="15210">
		<visual>
			<geometry>
				<cylinder length="0.2604931095755788" radius="0.7222788637074065"/>
			</geometry>
		</visual>
		<collision>
			<geometry>
				<cylinder length="0.2604931095755788" radius="0.7222788637074065"/>
			</geometry>
		</collision>
		<inertial>
			<mass value="0.4269292643522967"/>
			<inertia ixx="0.03" iyy="0.03" izz="0.03" ixy="0" ixz="0" iyx="0"/>
		</inertial>
	</link>
	<link name="15211">
		<visual>
			<geometry>
				<cylinder length="0.2604931095755788" radius="0.7222788637074065"/>
			</geometry>
		</visual>
		<collision>
			<geometry>
				<cylinder length="0.2604931095755788" radius="0.7222788637074065"/>
			</geometry>
		</collision>
		<inertial>
			<mass value="0.4269292643522967"/>
			<inertia ixx="0.03" iyy="0.03" izz="0.03" ixy="0" ixz="0" iyx="0"/>
		</inertial>
	</link>
	<link name="15212">
		<visual>
			<geometry>
				<cylinder length="0.2604931095755788" radius="0.7222788637074065"/>
			</geometry>
		</visual>
		<collision>
			<geometry>
				<cylinder length="0.2604931095755788" radius="0.7222788637074065"/>
			</geometry>
		</collision>
		<inertial>
			<mass value="0.4269292643522967"/>
			<inertia ixx="0.03" iyy="0.03" izz="0.03" ixy="0" ixz="0" iyx="0"/>
		</inertial>
	</link>
	<link name="16213">
		<visual>
			<geometry>
				<cylinder length="0.7901912508135676" radius="0.07699769448409"/>
			</geometry>
		</visual>
		<collision>
			<geometry>
				<cylinder length="0.7901912508135676" radius="0.07699769448409"/>
			</geometry>
		</collision>
		<inertial>
			<mass value="0.014717618197380648"/>
			<inertia ixx="0.03" iyy="0.03" izz="0.03" ixy="0" ixz="0" iyx="0"/>
		</inertial>
	</link>
	<joint name="11_to_0" type="revolute">
		<parent link="0"/>
		<child link="11"/>
		<axis xyz="1 0 0"/>
		<limit effort="1" upper="-3.1415" lower="3.1415" velocity="1"/>
		<origin rpy="6.1883807400903175 6.029969415500584 5.585215468120921" xyz="0.7504895776026783 0.011218950925250049 0.09403385383337215"/>
	</joint>
	<joint name="32_to_11" type="revolute">
		<parent link="11"/>
		<child link="32"/>
		<axis xyz="0 0 1"/>
		<limit effort="1" upper="-3.1415" lower="3.1415" velocity="1"/>
		<origin rpy="1.1917991648629043 3.0397810272793344 4.847749293016082" xyz="0.2151699077479884 0.6881956052491676 0.9995284088444231"/>
	</joint>
	<joint name="143_to_32" type="revolute">
		<parent link="32"/>
		<child link="143"/>
		<axis xyz="1 0 0"/>
		<limit effort="1" upper="-3.1415" lower="3.1415" velocity="1"/>
		<origin rpy="3.6095992031789756 5.371907580221656 5.657035563771214" xyz="0.9726464793444202 0.887511423627329 0.7519699015080397"/>
	</joint>
	<joint name="144_to_32" type="revolute">
		<parent link="32"/>
		<child link="144"/>
		<axis xyz="1 0 0"/>
		<limit effort="1" upper="-3.1415" lower="3.1415" velocity="1"/>
		<origin rpy="3.6095992031789756 5.371907580221656 5.657035563771214" xyz="0.9726464793444202 0.887511423627329 0.7519699015080397"/>
	</joint>
	<joint name="145_to_32" type="revolute">
		<parent link="32"/>
		<child link="145"/>
		<axis xyz="1 0 0"/>
		<limit effort="1" upper="-3.1415" lower="3.1415" velocity="1"/>
		<origin rpy="3.6095992031789756 5.371907580221656 5.657035563771214" xyz="0.9726464793444202 0.887511423627329 0.7519699015080397"/>
	</joint>
	<joint name="36_to_11" type="revolute">
		<parent link="11"/>
		<child link="36"/>
		<axis xyz="0 0 1"/>
		<limit effort="1" upper="-3.1415" lower="3.1415" velocity="1"/>
		<origin rpy="1.1917991648629043 3.0397810272793344 4.847749293016082" xyz="0.2151699077479884 0.6881956052491676 0.9995284088444231"/>
	</joint>
	<joint name="147_to_36" type="revolute">
		<parent link="36"/>
		<child link="147"/>
		<axis xyz="1 0 0"/>
		<limit effort="1" upper="-3.1415" lower="3.1415" velocity="1"/>
		<origin rpy="3.6095992031789756 5.371907580221656 5.657035563771214" xyz="0.9726464793444202 0.887511423627329 0.7519699015080397"/>
	</joint>
	<joint name="148_to_36" type="revolute">
		<parent link="36"/>
		<child link="148"/>
		<axis xyz="1 0 0"/>
		<limit effort="1" upper="-3.1415" lower="3.1415" velocity="1"/>
		<origin rpy="3.6095992031789756 5.371907580221656 5.657035563771214" xyz="0.9726464793444202 0.887511423627329 0.7519699015080397"/>
	</joint>
	<joint name="149_to_36" type="revolute">
		<parent link="36"/>
		<child link="149"/>
		<axis xyz="1 0 0"/>
		<limit effort="1" upper="-3.1415" lower="3.1415" velocity="1"/>
		<origin rpy="3.6095992031789756 5.371907580221656 5.657035563771214" xyz="0.9726464793444202 0.887511423627329 0.7519699015080397"/>
	</joint>
	<joint name="310_to_11" type="revolute">
		<parent link="11"/>
		<child link="310"/>
		<axis xyz="0 0 1"/>
		<limit effort="1" upper="-3.1415" lower="3.1415" velocity="1"/>
		<origin rpy="1.1917991648629043 3.0397810272793344 4.847749293016082" xyz="0.2151699077479884 0.6881956052491676 0.9995284088444231"/>
	</joint>
	<joint name="1411_to_310" type="revolute">
		<parent link="310"/>
		<child link="1411"/>
		<axis xyz="1 0 0"/>
		<limit effort="1" upper="-3.1415" lower="3.1415" velocity="1"/>
		<origin rpy="3.6095992031789756 5.371907580221656 5.657035563771214" xyz="0.9726464793444202 0.887511423627329 0.7519699015080397"/>
	</joint>
	<joint name="1412_to_310" type="revolute">
		<parent link="310"/>
		<child link="1412"/>
		<axis xyz="1 0 0"/>
		<limit effort="1" upper="-3.1415" lower="3.1415" velocity="1"/>
		<origin rpy="3.6095992031789756 5.371907580221656 5.657035563771214" xyz="0.9726464793444202 0.887511423627329 0.7519699015080397"/>
	</joint>
	<joint name="1413_to_310" type="revolute">
		<parent link="310"/>
		<child link="1413"/>
		<axis xyz="1 0 0"/>
		<limit effort="1" upper="-3.1415" lower="3.1415" velocity="1"/>
		<origin rpy="3.6095992031789756 5.371907580221656 5.657035563771214" xyz="0.9726464793444202 0.887511423627329 0.7519699015080397"/>
	</joint>
	<joint name="814_to_11" type="revolute">
		<parent link="11"/>
		<child link="814"/>
		<axis xyz="0 0 1"/>
		<limit effort="1" upper="-3.1415" lower="3.1415" velocity="1"/>
		<origin rpy="5.300662339710964 2.434189699134525 5.494050587070038" xyz="0.4366582715973204 0.7123970565681083 0.29590244106287555"/>
	</joint>
	<joint name="815_to_11" type="revolute">
		<parent link="11"/>
		<child link="815"/>
		<axis xyz="0 0 1"/>
		<limit effort="1" upper="-3.1415" lower="3.1415" velocity="1"/>
		<origin rpy="5.300662339710964 2.434189699134525 5.494050587070038" xyz="0.4366582715973204 0.7123970565681083 0.29590244106287555"/>
	</joint>
	<joint name="116_to_0" type="revolute">
		<parent link="0"/>
		<child link="116"/>
		<axis xyz="1 0 0"/>
		<limit effort="1" upper="-3.1415" lower="3.1415" velocity="1"/>
		<origin rpy="6.1883807400903175 6.029969415500584 5.585215468120921" xyz="0.7504895776026783 0.011218950925250049 0.09403385383337215"/>
	</joint>
	<joint name="317_to_116" type="revolute">
		<parent link="116"/>
		<child link="317"/>
		<axis xyz="0 0 1"/>
		<limit effort="1" upper="-3.1415" lower="3.1415" velocity="1"/>
		<origin rpy="1.1917991648629043 3.0397810272793344 4.847749293016082" xyz="0.2151699077479884 0.6881956052491676 0.9995284088444231"/>
	</joint>
	<joint name="1418_to_317" type="revolute">
		<parent link="317"/>
		<child link="1418"/>
		<axis xyz="1 0 0"/>
		<limit effort="1" upper="-3.1415" lower="3.1415" velocity="1"/>
		<origin rpy="3.6095992031789756 5.371907580221656 5.657035563771214" xyz="0.9726464793444202 0.887511423627329 0.7519699015080397"/>
	</joint>
	<joint name="1419_to_317" type="revolute">
		<parent link="317"/>
		<child link="1419"/>
		<axis xyz="1 0 0"/>
		<limit effort="1" upper="-3.1415" lower="3.1415" velocity="1"/>
		<origin rpy="3.6095992031789756 5.371907580221656 5.657035563771214" xyz="0.9726464793444202 0.887511423627329 0.7519699015080397"/>
	</joint>
	<joint name="1420_to_317" type="revolute">
		<parent link="317"/>
		<child link="1420"/>
		<axis xyz="1 0 0"/>
		<limit effort="1" upper="-3.1415" lower="3.1415" velocity="1"/>
		<origin rpy="3.6095992031789756 5.371907580221656 5.657035563771214" xyz="0.9726464793444202 0.887511423627329 0.7519699015080397"/>
	</joint>
	<joint name="321_to_116" type="revolute">
		<parent link="116"/>
		<child link="321"/>
		<axis xyz="0 0 1"/>
		<limit effort="1" upper="-3.1415" lower="3.1415" velocity="1"/>
		<origin rpy="1.1917991648629043 3.0397810272793344 4.847749293016082" xyz="0.2151699077479884 0.6881956052491676 0.9995284088444231"/>
	</joint>
	<joint name="1422_to_321" type="revolute">
		<parent link="321"/>
		<child link="1422"/>
		<axis xyz="1 0 0"/>
		<limit effort="1" upper="-3.1415" lower="3.1415" velocity="1"/>
		<origin rpy="3.6095992031789756 5.371907580221656 5.657035563771214" xyz="0.9726464793444202 0.887511423627329 0.7519699015080397"/>
	</joint>
	<joint name="1423_to_321" type="revolute">
		<parent link="321"/>
		<child link="1423"/>
		<axis xyz="1 0 0"/>
		<limit effort="1" upper="-3.1415" lower="3.1415" velocity="1"/>
		<origin rpy="3.6095992031789756 5.371907580221656 5.657035563771214" xyz="0.9726464793444202 0.887511423627329 0.7519699015080397"/>
	</joint>
	<joint name="1424_to_321" type="revolute">
		<parent link="321"/>
		<child link="1424"/>
		<axis xyz="1 0 0"/>
		<limit effort="1" upper="-3.1415" lower="3.1415" velocity="1"/>
		<origin rpy="3.6095992031789756 5.371907580221656 5.657035563771214" xyz="0.9726464793444202 0.887511423627329 0.7519699015080397"/>
	</joint>
	<joint name="325_to_116" type="revolute">
		<parent link="116"/>
		<child link="325"/>
		<axis xyz="0 0 1"/>
		<limit effort="1" upper="-3.1415" lower="3.1415" velocity="1"/>
		<origin rpy="1.1917991648629043 3.0397810272793344 4.847749293016082" xyz="0.2151699077479884 0.6881956052491676 0.9995284088444231"/>
	</joint>
	<joint name="1426_to_325" type="revolute">
		<parent link="325"/>
		<child link="1426"/>
		<axis xyz="1 0 0"/>
		<limit effort="1" upper="-3.1415" lower="3.1415" velocity="1"/>
		<origin rpy="3.6095992031789756 5.371907580221656 5.657035563771214" xyz="0.9726464793444202 0.887511423627329 0.7519699015080397"/>
	</joint>
	<joint name="1427_to_325" type="revolute">
		<parent link="325"/>
		<child link="1427"/>
		<axis xyz="1 0 0"/>
		<limit effort="1" upper="-3.1415" lower="3.1415" velocity="1"/>
		<origin rpy="3.6095992031789756 5.371907580221656 5.657035563771214" xyz="0.9726464793444202 0.887511423627329 0.7519699015080397"/>
	</joint>
	<joint name="1428_to_325" type="revolute">
		<parent link="325"/>
		<child link="1428"/>
		<axis xyz="1 0 0"/>
		<limit effort="1" upper="-3.1415" lower="3.1415" velocity="1"/>
		<origin rpy="3.6095992031789756 5.371907580221656 5.657035563771214" xyz="0.9726464793444202 0.887511423627329 0.7519699015080397"/>
	</joint>
	<joint name="829_to_116" type="revolute">
		<parent link="116"/>
		<child link="829"/>
		<axis xyz="0 0 1"/>
		<limit effort="1" upper="-3.1415" lower="3.1415" velocity="1"/>
		<origin rpy="5.300662339710964 2.434189699134525 5.494050587070038" xyz="0.4366582715973204 0.7123970565681083 0.29590244106287555"/>
	</joint>
	<joint name="830_to_116" type="revolute">
		<parent link="116"/>
		<child link="830"/>
		<axis xyz="0 0 1"/>
		<limit effort="1" upper="-3.1415" lower="3.1415" velocity="1"/>
		<origin rpy="5.300662339710964 2.434189699134525 5.494050587070038" xyz="0.4366582715973204 0.7123970565681083 0.29590244106287555"/>
	</joint>
	<joint name="131_to_0" type="revolute">
		<parent link="0"/>
		<child link="131"/>
		<axis xyz="1 0 0"/>
		<limit effort="1" upper="-3.1415" lower="3.1415" velocity="1"/>
		<origin rpy="6.1883807400903175 6.029969415500584 5.585215468120921" xyz="0.7504895776026783 0.011218950925250049 0.09403385383337215"/>
	</joint>
	<joint name="332_to_131" type="revolute">
		<parent link="131"/>
		<child link="332"/>
		<axis xyz="0 0 1"/>
		<limit effort="1" upper="-3.1415" lower="3.1415" velocity="1"/>
		<origin rpy="1.1917991648629043 3.0397810272793344 4.847749293016082" xyz="0.2151699077479884 0.6881956052491676 0.9995284088444231"/>
	</joint>
	<joint name="1433_to_332" type="revolute">
		<parent link="332"/>
		<child link="1433"/>
		<axis xyz="1 0 0"/>
		<limit effort="1" upper="-3.1415" lower="3.1415" velocity="1"/>
		<origin rpy="3.6095992031789756 5.371907580221656 5.657035563771214" xyz="0.9726464793444202 0.887511423627329 0.7519699015080397"/>
	</joint>
	<joint name="1434_to_332" type="revolute">
		<parent link="332"/>
		<child link="1434"/>
		<axis xyz="1 0 0"/>
		<limit effort="1" upper="-3.1415" lower="3.1415" velocity="1"/>
		<origin rpy="3.6095992031789756 5.371907580221656 5.657035563771214" xyz="0.9726464793444202 0.887511423627329 0.7519699015080397"/>
	</joint>
	<joint name="1435_to_332" type="revolute">
		<parent link="332"/>
		<child link="1435"/>
		<axis xyz="1 0 0"/>
		<limit effort="1" upper="-3.1415" lower="3.1415" velocity="1"/>
		<origin rpy="3.6095992031789756 5.371907580221656 5.657035563771214" xyz="0.9726464793444202 0.887511423627329 0.7519699015080397"/>
	</joint>
	<joint name="336_to_131" type="revolute">
		<parent link="131"/>
		<child link="336"/>
		<axis xyz="0 0 1"/>
		<limit effort="1" upper="-3.1415" lower="3.1415" velocity="1"/>
		<origin rpy="1.1917991648629043 3.0397810272793344 4.847749293016082" xyz="0.2151699077479884 0.6881956052491676 0.9995284088444231"/>
	</joint>
	<joint name="1437_to_336" type="revolute">
		<parent link="336"/>
		<child link="1437"/>
		<axis xyz="1 0 0"/>
		<limit effort="1" upper="-3.1415" lower="3.1415" velocity="1"/>
		<origin rpy="3.6095992031789756 5.371907580221656 5.657035563771214" xyz="0.9726464793444202 0.887511423627329 0.7519699015080397"/>
	</joint>
	<joint name="1438_to_336" type="revolute">
		<parent link="336"/>
		<child link="1438"/>
		<axis xyz="1 0 0"/>
		<limit effort="1" upper="-3.1415" lower="3.1415" velocity="1"/>
		<origin rpy="3.6095992031789756 5.371907580221656 5.657035563771214" xyz="0.9726464793444202 0.887511423627329 0.7519699015080397"/>
	</joint>
	<joint name="1439_to_336" type="revolute">
		<parent link="336"/>
		<child link="1439"/>
		<axis xyz="1 0 0"/>
		<limit effort="1" upper="-3.1415" lower="3.1415" velocity="1"/>
		<origin rpy="3.6095992031789756 5.371907580221656 5.657035563771214" xyz="0.9726464793444202 0.887511423627329 0.7519699015080397"/>
	</joint>
	<joint name="340_to_131" type="revolute">
		<parent link="131"/>
		<child link="340"/>
		<axis xyz="0 0 1"/>
		<limit effort="1" upper="-3.1415" lower="3.1415" velocity="1"/>
		<origin rpy="1.1917991648629043 3.0397810272793344 4.847749293016082" xyz="0.2151699077479884 0.6881956052491676 0.9995284088444231"/>
	</joint>
	<joint name="1441_to_340" type="revolute">
		<parent link="340"/>
		<child link="1441"/>
		<axis xyz="1 0 0"/>
		<limit effort="1" upper="-3.1415" lower="3.1415" velocity="1"/>
		<origin rpy="3.6095992031789756 5.371907580221656 5.657035563771214" xyz="0.9726464793444202 0.887511423627329 0.7519699015080397"/>
	</joint>
	<joint name="1442_to_340" type="revolute">
		<parent link="340"/>
		<child link="1442"/>
		<axis xyz="1 0 0"/>
		<limit effort="1" upper="-3.1415" lower="3.1415" velocity="1"/>
		<origin rpy="3.6095992031789756 5.371907580221656 5.657035563771214" xyz="0.9726464793444202 0.887511423627329 0.7519699015080397"/>
	</joint>
	<joint name="1443_to_340" type="revolute">
		<parent link="340"/>
		<child link="1443"/>
		<axis xyz="1 0 0"/>
		<limit effort="1" upper="-3.1415" lower="3.1415" velocity="1"/>
		<origin rpy="3.6095992031789756 5.371907580221656 5.657035563771214" xyz="0.9726464793444202 0.887511423627329 0.7519699015080397"/>
	</joint>
	<joint name="844_to_131" type="revolute">
		<parent link="131"/>
		<child link="844"/>
		<axis xyz="0 0 1"/>
		<limit effort="1" upper="-3.1415" lower="3.1415" velocity="1"/>
		<origin rpy="5.300662339710964 2.434189699134525 5.494050587070038" xyz="0.4366582715973204 0.7123970565681083 0.29590244106287555"/>
	</joint>
	<joint name="845_to_131" type="revolute">
		<parent link="131"/>
		<child link="845"/>
		<axis xyz="0 0 1"/>
		<limit effort="1" upper="-3.1415" lower="3.1415" velocity="1"/>
		<origin rpy="5.300662339710964 2.434189699134525 5.494050587070038" xyz="0.4366582715973204 0.7123970565681083 0.29590244106287555"/>
	</joint>
	<joint name="246_to_0" type="revolute">
		<parent link="0"/>
		<child link="246"/>
		<axis xyz="1 0 0"/>
		<limit effort="1" upper="-3.1415" lower="3.1415" velocity="1"/>
		<origin rpy="5.115099390492104 4.436772692469585 5.193955010069677" xyz="0.8245913453717404 0.7584729991280653 0.20259754899299776"/>
	</joint>
	<joint name="547_to_246" type="revolute">
		<parent link="246"/>
		<child link="547"/>
		<axis xyz="1 0 0"/>
		<limit effort="1" upper="-3.1415" lower="3.1415" velocity="1"/>
		<origin rpy="0.20057631386392957 6.031912790536187 4.940155748737388" xyz="0.8859530810640545 0.36941802112578626 0.8836797673250819"/>
	</joint>
	<joint name="648_to_547" type="revolute">
		<parent link="547"/>
		<child link="648"/>
		<axis xyz="0 1 0"/>
		<limit effort="1" upper="-3.1415" lower="3.1415" velocity="1"/>
		<origin rpy="4.582271239216635 4.76515986468535 1.9853069727981703" xyz="0.3306709896301978 0.5187738164025932 0.8735875204103443"/>
	</joint>
	<joint name="1349_to_648" type="revolute">
		<parent link="648"/>
		<child link="1349"/>
		<axis xyz="0 1 0"/>
		<limit effort="1" upper="-3.1415" lower="3.1415" velocity="1"/>
		<origin rpy="3.484068757787721 4.13050514668474 1.5157581624759267" xyz="0.642392609339958 0.8960076488236386 0.26577341058959747"/>
	</joint>
	<joint name="1350_to_648" type="revolute">
		<parent link="648"/>
		<child link="1350"/>
		<axis xyz="0 1 0"/>
		<limit effort="1" upper="-3.1415" lower="3.1415" velocity="1"/>
		<origin rpy="3.484068757787721 4.13050514668474 1.5157581624759267" xyz="0.642392609339958 0.8960076488236386 0.26577341058959747"/>
	</joint>
	<joint name="1351_to_648" type="revolute">
		<parent link="648"/>
		<child link="1351"/>
		<axis xyz="0 1 0"/>
		<limit effort="1" upper="-3.1415" lower="3.1415" velocity="1"/>
		<origin rpy="3.484068757787721 4.13050514668474 1.5157581624759267" xyz="0.642392609339958 0.8960076488236386 0.26577341058959747"/>
	</joint>
	<joint name="1852_to_648" type="revolute">
		<parent link="648"/>
		<child link="1852"/>
		<axis xyz="0 1 0"/>
		<limit effort="1" upper="-3.1415" lower="3.1415" velocity="1"/>
		<origin rpy="2.119944294454643 3.4303665433420596 1.3249192885625154" xyz="0.6930773680017671 0.21469465787497244 0.9935186110946831"/>
	</joint>
	<joint name="1853_to_648" type="revolute">
		<parent link="648"/>
		<child link="1853"/>
		<axis xyz="0 1 0"/>
		<limit effort="1" upper="-3.1415" lower="3.1415" velocity="1"/>
		<origin rpy="2.119944294454643 3.4303665433420596 1.3249192885625154" xyz="0.6930773680017671 0.21469465787497244 0.9935186110946831"/>
	</joint>
	<joint name="1854_to_648" type="revolute">
		<parent link="648"/>
		<child link="1854"/>
		<axis xyz="0 1 0"/>
		<limit effort="1" upper="-3.1415" lower="3.1415" velocity="1"/>
		<origin rpy="2.119944294454643 3.4303665433420596 1.3249192885625154" xyz="0.6930773680017671 0.21469465787497244 0.9935186110946831"/>
	</joint>
	<joint name="655_to_547" type="revolute">
		<parent link="547"/>
		<child link="655"/>
		<axis xyz="0 1 0"/>
		<limit effort="1" upper="-3.1415" lower="3.1415" velocity="1"/>
		<origin rpy="4.582271239216635 4.76515986468535 1.9853069727981703" xyz="0.3306709896301978 0.5187738164025932 0.8735875204103443"/>
	</joint>
	<joint name="1356_to_655" type="revolute">
		<parent link="655"/>
		<child link="1356"/>
		<axis xyz="0 1 0"/>
		<limit effort="1" upper="-3.1415" lower="3.1415" velocity="1"/>
		<origin rpy="3.484068757787721 4.13050514668474 1.5157581624759267" xyz="0.642392609339958 0.8960076488236386 0.26577341058959747"/>
	</joint>
	<joint name="1357_to_655" type="revolute">
		<parent link="655"/>
		<child link="1357"/>
		<axis xyz="0 1 0"/>
		<limit effort="1" upper="-3.1415" lower="3.1415" velocity="1"/>
		<origin rpy="3.484068757787721 4.13050514668474 1.5157581624759267" xyz="0.642392609339958 0.8960076488236386 0.26577341058959747"/>
	</joint>
	<joint name="1358_to_655" type="revolute">
		<parent link="655"/>
		<child link="1358"/>
		<axis xyz="0 1 0"/>
		<limit effort="1" upper="-3.1415" lower="3.1415" velocity="1"/>
		<origin rpy="3.484068757787721 4.13050514668474 1.5157581624759267" xyz="0.642392609339958 0.8960076488236386 0.26577341058959747"/>
	</joint>
	<joint name="1859_to_655" type="revolute">
		<parent link="655"/>
		<child link="1859"/>
		<axis xyz="0 1 0"/>
		<limit effort="1" upper="-3.1415" lower="3.1415" velocity="1"/>
		<origin rpy="2.119944294454643 3.4303665433420596 1.3249192885625154" xyz="0.6930773680017671 0.21469465787497244 0.9935186110946831"/>
	</joint>
	<joint name="1860_to_655" type="revolute">
		<parent link="655"/>
		<child link="1860"/>
		<axis xyz="0 1 0"/>
		<limit effort="1" upper="-3.1415" lower="3.1415" velocity="1"/>
		<origin rpy="2.119944294454643 3.4303665433420596 1.3249192885625154" xyz="0.6930773680017671 0.21469465787497244 0.9935186110946831"/>
	</joint>
	<joint name="1861_to_655" type="revolute">
		<parent link="655"/>
		<child link="1861"/>
		<axis xyz="0 1 0"/>
		<limit effort="1" upper="-3.1415" lower="3.1415" velocity="1"/>
		<origin rpy="2.119944294454643 3.4303665433420596 1.3249192885625154" xyz="0.6930773680017671 0.21469465787497244 0.9935186110946831"/>
	</joint>
	<joint name="662_to_547" type="revolute">
		<parent link="547"/>
		<child link="662"/>
		<axis xyz="0 1 0"/>
		<limit effort="1" upper="-3.1415" lower="3.1415" velocity="1"/>
		<origin rpy="4.582271239216635 4.76515986468535 1.9853069727981703" xyz="0.3306709896301978 0.5187738164025932 0.8735875204103443"/>
	</joint>
	<joint name="1363_to_662" type="revolute">
		<parent link="662"/>
		<child link="1363"/>
		<axis xyz="0 1 0"/>
		<limit effort="1" upper="-3.1415" lower="3.1415" velocity="1"/>
		<origin rpy="3.484068757787721 4.13050514668474 1.5157581624759267" xyz="0.642392609339958 0.8960076488236386 0.26577341058959747"/>
	</joint>
	<joint name="1364_to_662" type="revolute">
		<parent link="662"/>
		<child link="1364"/>
		<axis xyz="0 1 0"/>
		<limit effort="1" upper="-3.1415" lower="3.1415" velocity="1"/>
		<origin rpy="3.484068757787721 4.13050514668474 1.5157581624759267" xyz="0.642392609339958 0.8960076488236386 0.26577341058959747"/>
	</joint>
	<joint name="1365_to_662" type="revolute">
		<parent link="662"/>
		<child link="1365"/>
		<axis xyz="0 1 0"/>
		<limit effort="1" upper="-3.1415" lower="3.1415" velocity="1"/>
		<origin rpy="3.484068757787721 4.13050514668474 1.5157581624759267" xyz="0.642392609339958 0.8960076488236386 0.26577341058959747"/>
	</joint>
	<joint name="1866_to_662" type="revolute">
		<parent link="662"/>
		<child link="1866"/>
		<axis xyz="0 1 0"/>
		<limit effort="1" upper="-3.1415" lower="3.1415" velocity="1"/>
		<origin rpy="2.119944294454643 3.4303665433420596 1.3249192885625154" xyz="0.6930773680017671 0.21469465787497244 0.9935186110946831"/>
	</joint>
	<joint name="1867_to_662" type="revolute">
		<parent link="662"/>
		<child link="1867"/>
		<axis xyz="0 1 0"/>
		<limit effort="1" upper="-3.1415" lower="3.1415" velocity="1"/>
		<origin rpy="2.119944294454643 3.4303665433420596 1.3249192885625154" xyz="0.6930773680017671 0.21469465787497244 0.9935186110946831"/>
	</joint>
	<joint name="1868_to_662" type="revolute">
		<parent link="662"/>
		<child link="1868"/>
		<axis xyz="0 1 0"/>
		<limit effort="1" upper="-3.1415" lower="3.1415" velocity="1"/>
		<origin rpy="2.119944294454643 3.4303665433420596 1.3249192885625154" xyz="0.6930773680017671 0.21469465787497244 0.9935186110946831"/>
	</joint>
	<joint name="1069_to_547" type="revolute">
		<parent link="547"/>
		<child link="1069"/>
		<axis xyz="1 0 0"/>
		<limit effort="1" upper="-3.1415" lower="3.1415" velocity="1"/>
		<origin rpy="0.2839015201463955 4.96719073405154 5.2236657389181715" xyz="0.9735182776173514 0.3029780721448482 0.837361443910363"/>
	</joint>
	<joint name="1270_to_246" type="revolute">
		<parent link="246"/>
		<child link="1270"/>
		<axis xyz="1 0 0"/>
		<limit effort="1" upper="-3.1415" lower="3.1415" velocity="1"/>
		<origin rpy="4.59768776002941 1.301618857545606 5.523751780545223" xyz="0.6147642506753465 0.261137722118136 0.09842002065102218"/>
	</joint>
	<joint name="1971_to_1270" type="revolute">
		<parent link="1270"/>
		<child link="1971"/>
		<axis xyz="0 0 1"/>
		<limit effort="1" upper="-3.1415" lower="3.1415" velocity="1"/>
		<origin rpy="1.2128921455931618 6.168472269845865 5.981915864600003" xyz="0.024615425770757704 0.6172048032789352 0.24960137763228396"/>
	</joint>
	<joint name="1972_to_1270" type="revolute">
		<parent link="1270"/>
		<child link="1972"/>
		<axis xyz="0 0 1"/>
		<limit effort="1" upper="-3.1415" lower="3.1415" velocity="1"/>
		<origin rpy="1.2128921455931618 6.168472269845865 5.981915864600003" xyz="0.024615425770757704 0.6172048032789352 0.24960137763228396"/>
	</joint>
	<joint name="1973_to_1270" type="revolute">
		<parent link="1270"/>
		<child link="1973"/>
		<axis xyz="0 0 1"/>
		<limit effort="1" upper="-3.1415" lower="3.1415" velocity="1"/>
		<origin rpy="1.2128921455931618 6.168472269845865 5.981915864600003" xyz="0.024615425770757704 0.6172048032789352 0.24960137763228396"/>
	</joint>
	<joint name="1274_to_246" type="revolute">
		<parent link="246"/>
		<child link="1274"/>
		<axis xyz="1 0 0"/>
		<limit effort="1" upper="-3.1415" lower="3.1415" velocity="1"/>
		<origin rpy="4.59768776002941 1.301618857545606 5.523751780545223" xyz="0.6147642506753465 0.261137722118136 0.09842002065102218"/>
	</joint>
	<joint name="1975_to_1274" type="revolute">
		<parent link="1274"/>
		<child link="1975"/>
		<axis xyz="0 0 1"/>
		<limit effort="1" upper="-3.1415" lower="3.1415" velocity="1"/>
		<origin rpy="1.2128921455931618 6.168472269845865 5.981915864600003" xyz="0.024615425770757704 0.6172048032789352 0.24960137763228396"/>
	</joint>
	<joint name="1976_to_1274" type="revolute">
		<parent link="1274"/>
		<child link="1976"/>
		<axis xyz="0 0 1"/>
		<limit effort="1" upper="-3.1415" lower="3.1415" velocity="1"/>
		<origin rpy="1.2128921455931618 6.168472269845865 5.981915864600003" xyz="0.024615425770757704 0.6172048032789352 0.24960137763228396"/>
	</joint>
	<joint name="1977_to_1274" type="revolute">
		<parent link="1274"/>
		<child link="1977"/>
		<axis xyz="0 0 1"/>
		<limit effort="1" upper="-3.1415" lower="3.1415" velocity="1"/>
		<origin rpy="1.2128921455931618 6.168472269845865 5.981915864600003" xyz="0.024615425770757704 0.6172048032789352 0.24960137763228396"/>
	</joint>
	<joint name="278_to_0" type="revolute">
		<parent link="0"/>
		<child link="278"/>
		<axis xyz="1 0 0"/>
		<limit effort="1" upper="-3.1415" lower="3.1415" velocity="1"/>
		<origin rpy="5.115099390492104 4.436772692469585 5.193955010069677" xyz="0.8245913453717404 0.7584729991280653 0.20259754899299776"/>
	</joint>
	<joint name="579_to_278" type="revolute">
		<parent link="278"/>
		<child link="579"/>
		<axis xyz="1 0 0"/>
		<limit effort="1" upper="-3.1415" lower="3.1415" velocity="1"/>
		<origin rpy="0.20057631386392957 6.031912790536187 4.940155748737388" xyz="0.8859530810640545 0.36941802112578626 0.8836797673250819"/>
	</joint>
	<joint name="680_to_579" type="revolute">
		<parent link="579"/>
		<child link="680"/>
		<axis xyz="0 1 0"/>
		<limit effort="1" upper="-3.1415" lower="3.1415" velocity="1"/>
		<origin rpy="4.582271239216635 4.76515986468535 1.9853069727981703" xyz="0.3306709896301978 0.5187738164025932 0.8735875204103443"/>
	</joint>
	<joint name="1381_to_680" type="revolute">
		<parent link="680"/>
		<child link="1381"/>
		<axis xyz="0 1 0"/>
		<limit effort="1" upper="-3.1415" lower="3.1415" velocity="1"/>
		<origin rpy="3.484068757787721 4.13050514668474 1.5157581624759267" xyz="0.642392609339958 0.8960076488236386 0.26577341058959747"/>
	</joint>
	<joint name="1382_to_680" type="revolute">
		<parent link="680"/>
		<child link="1382"/>
		<axis xyz="0 1 0"/>
		<limit effort="1" upper="-3.1415" lower="3.1415" velocity="1"/>
		<origin rpy="3.484068757787721 4.13050514668474 1.5157581624759267" xyz="0.642392609339958 0.8960076488236386 0.26577341058959747"/>
	</joint>
	<joint name="1383_to_680" type="revolute">
		<parent link="680"/>
		<child link="1383"/>
		<axis xyz="0 1 0"/>
		<limit effort="1" upper="-3.1415" lower="3.1415" velocity="1"/>
		<origin rpy="3.484068757787721 4.13050514668474 1.5157581624759267" xyz="0.642392609339958 0.8960076488236386 0.26577341058959747"/>
	</joint>
	<joint name="1884_to_680" type="revolute">
		<parent link="680"/>
		<child link="1884"/>
		<axis xyz="0 1 0"/>
		<limit effort="1" upper="-3.1415" lower="3.1415" velocity="1"/>
		<origin rpy="2.119944294454643 3.4303665433420596 1.3249192885625154" xyz="0.6930773680017671 0.21469465787497244 0.9935186110946831"/>
	</joint>
	<joint name="1885_to_680" type="revolute">
		<parent link="680"/>
		<child link="1885"/>
		<axis xyz="0 1 0"/>
		<limit effort="1" upper="-3.1415" lower="3.1415" velocity="1"/>
		<origin rpy="2.119944294454643 3.4303665433420596 1.3249192885625154" xyz="0.6930773680017671 0.21469465787497244 0.9935186110946831"/>
	</joint>
	<joint name="1886_to_680" type="revolute">
		<parent link="680"/>
		<child link="1886"/>
		<axis xyz="0 1 0"/>
		<limit effort="1" upper="-3.1415" lower="3.1415" velocity="1"/>
		<origin rpy="2.119944294454643 3.4303665433420596 1.3249192885625154" xyz="0.6930773680017671 0.21469465787497244 0.9935186110946831"/>
	</joint>
	<joint name="687_to_579" type="revolute">
		<parent link="579"/>
		<child link="687"/>
		<axis xyz="0 1 0"/>
		<limit effort="1" upper="-3.1415" lower="3.1415" velocity="1"/>
		<origin rpy="4.582271239216635 4.76515986468535 1.9853069727981703" xyz="0.3306709896301978 0.5187738164025932 0.8735875204103443"/>
	</joint>
	<joint name="1388_to_687" type="revolute">
		<parent link="687"/>
		<child link="1388"/>
		<axis xyz="0 1 0"/>
		<limit effort="1" upper="-3.1415" lower="3.1415" velocity="1"/>
		<origin rpy="3.484068757787721 4.13050514668474 1.5157581624759267" xyz="0.642392609339958 0.8960076488236386 0.26577341058959747"/>
	</joint>
	<joint name="1389_to_687" type="revolute">
		<parent link="687"/>
		<child link="1389"/>
		<axis xyz="0 1 0"/>
		<limit effort="1" upper="-3.1415" lower="3.1415" velocity="1"/>
		<origin rpy="3.484068757787721 4.13050514668474 1.5157581624759267" xyz="0.642392609339958 0.8960076488236386 0.26577341058959747"/>
	</joint>
	<joint name="1390_to_687" type="revolute">
		<parent link="687"/>
		<child link="1390"/>
		<axis xyz="0 1 0"/>
		<limit effort="1" upper="-3.1415" lower="3.1415" velocity="1"/>
		<origin rpy="3.484068757787721 4.13050514668474 1.5157581624759267" xyz="0.642392609339958 0.8960076488236386 0.26577341058959747"/>
	</joint>
	<joint name="1891_to_687" type="revolute">
		<parent link="687"/>
		<child link="1891"/>
		<axis xyz="0 1 0"/>
		<limit effort="1" upper="-3.1415" lower="3.1415" velocity="1"/>
		<origin rpy="2.119944294454643 3.4303665433420596 1.3249192885625154" xyz="0.6930773680017671 0.21469465787497244 0.9935186110946831"/>
	</joint>
	<joint name="1892_to_687" type="revolute">
		<parent link="687"/>
		<child link="1892"/>
		<axis xyz="0 1 0"/>
		<limit effort="1" upper="-3.1415" lower="3.1415" velocity="1"/>
		<origin rpy="2.119944294454643 3.4303665433420596 1.3249192885625154" xyz="0.6930773680017671 0.21469465787497244 0.9935186110946831"/>
	</joint>
	<joint name="1893_to_687" type="revolute">
		<parent link="687"/>
		<child link="1893"/>
		<axis xyz="0 1 0"/>
		<limit effort="1" upper="-3.1415" lower="3.1415" velocity="1"/>
		<origin rpy="2.119944294454643 3.4303665433420596 1.3249192885625154" xyz="0.6930773680017671 0.21469465787497244 0.9935186110946831"/>
	</joint>
	<joint name="694_to_579" type="revolute">
		<parent link="579"/>
		<child link="694"/>
		<axis xyz="0 1 0"/>
		<limit effort="1" upper="-3.1415" lower="3.1415" velocity="1"/>
		<origin rpy="4.582271239216635 4.76515986468535 1.9853069727981703" xyz="0.3306709896301978 0.5187738164025932 0.8735875204103443"/>
	</joint>
	<joint name="1395_to_694" type="revolute">
		<parent link="694"/>
		<child link="1395"/>
		<axis xyz="0 1 0"/>
		<limit effort="1" upper="-3.1415" lower="3.1415" velocity="1"/>
		<origin rpy="3.484068757787721 4.13050514668474 1.5157581624759267" xyz="0.642392609339958 0.8960076488236386 0.26577341058959747"/>
	</joint>
	<joint name="1396_to_694" type="revolute">
		<parent link="694"/>
		<child link="1396"/>
		<axis xyz="0 1 0"/>
		<limit effort="1" upper="-3.1415" lower="3.1415" velocity="1"/>
		<origin rpy="3.484068757787721 4.13050514668474 1.5157581624759267" xyz="0.642392609339958 0.8960076488236386 0.26577341058959747"/>
	</joint>
	<joint name="1397_to_694" type="revolute">
		<parent link="694"/>
		<child link="1397"/>
		<axis xyz="0 1 0"/>
		<limit effort="1" upper="-3.1415" lower="3.1415" velocity="1"/>
		<origin rpy="3.484068757787721 4.13050514668474 1.5157581624759267" xyz="0.642392609339958 0.8960076488236386 0.26577341058959747"/>
	</joint>
	<joint name="1898_to_694" type="revolute">
		<parent link="694"/>
		<child link="1898"/>
		<axis xyz="0 1 0"/>
		<limit effort="1" upper="-3.1415" lower="3.1415" velocity="1"/>
		<origin rpy="2.119944294454643 3.4303665433420596 1.3249192885625154" xyz="0.6930773680017671 0.21469465787497244 0.9935186110946831"/>
	</joint>
	<joint name="1899_to_694" type="revolute">
		<parent link="694"/>
		<child link="1899"/>
		<axis xyz="0 1 0"/>
		<limit effort="1" upper="-3.1415" lower="3.1415" velocity="1"/>
		<origin rpy="2.119944294454643 3.4303665433420596 1.3249192885625154" xyz="0.6930773680017671 0.21469465787497244 0.9935186110946831"/>
	</joint>
	<joint name="18100_to_694" type="revolute">
		<parent link="694"/>
		<child link="18100"/>
		<axis xyz="0 1 0"/>
		<limit effort="1" upper="-3.1415" lower="3.1415" velocity="1"/>
		<origin rpy="2.119944294454643 3.4303665433420596 1.3249192885625154" xyz="0.6930773680017671 0.21469465787497244 0.9935186110946831"/>
	</joint>
	<joint name="10101_to_579" type="revolute">
		<parent link="579"/>
		<child link="10101"/>
		<axis xyz="1 0 0"/>
		<limit effort="1" upper="-3.1415" lower="3.1415" velocity="1"/>
		<origin rpy="0.2839015201463955 4.96719073405154 5.2236657389181715" xyz="0.9735182776173514 0.3029780721448482 0.837361443910363"/>
	</joint>
	<joint name="12102_to_278" type="revolute">
		<parent link="278"/>
		<child link="12102"/>
		<axis xyz="1 0 0"/>
		<limit effort="1" upper="-3.1415" lower="3.1415" velocity="1"/>
		<origin rpy="4.59768776002941 1.301618857545606 5.523751780545223" xyz="0.6147642506753465 0.261137722118136 0.09842002065102218"/>
	</joint>
	<joint name="19103_to_12102" type="revolute">
		<parent link="12102"/>
		<child link="19103"/>
		<axis xyz="0 0 1"/>
		<limit effort="1" upper="-3.1415" lower="3.1415" velocity="1"/>
		<origin rpy="1.2128921455931618 6.168472269845865 5.981915864600003" xyz="0.024615425770757704 0.6172048032789352 0.24960137763228396"/>
	</joint>
	<joint name="19104_to_12102" type="revolute">
		<parent link="12102"/>
		<child link="19104"/>
		<axis xyz="0 0 1"/>
		<limit effort="1" upper="-3.1415" lower="3.1415" velocity="1"/>
		<origin rpy="1.2128921455931618 6.168472269845865 5.981915864600003" xyz="0.024615425770757704 0.6172048032789352 0.24960137763228396"/>
	</joint>
	<joint name="19105_to_12102" type="revolute">
		<parent link="12102"/>
		<child link="19105"/>
		<axis xyz="0 0 1"/>
		<limit effort="1" upper="-3.1415" lower="3.1415" velocity="1"/>
		<origin rpy="1.2128921455931618 6.168472269845865 5.981915864600003" xyz="0.024615425770757704 0.6172048032789352 0.24960137763228396"/>
	</joint>
	<joint name="12106_to_278" type="revolute">
		<parent link="278"/>
		<child link="12106"/>
		<axis xyz="1 0 0"/>
		<limit effort="1" upper="-3.1415" lower="3.1415" velocity="1"/>
		<origin rpy="4.59768776002941 1.301618857545606 5.523751780545223" xyz="0.6147642506753465 0.261137722118136 0.09842002065102218"/>
	</joint>
	<joint name="19107_to_12106" type="revolute">
		<parent link="12106"/>
		<child link="19107"/>
		<axis xyz="0 0 1"/>
		<limit effort="1" upper="-3.1415" lower="3.1415" velocity="1"/>
		<origin rpy="1.2128921455931618 6.168472269845865 5.981915864600003" xyz="0.024615425770757704 0.6172048032789352 0.24960137763228396"/>
	</joint>
	<joint name="19108_to_12106" type="revolute">
		<parent link="12106"/>
		<child link="19108"/>
		<axis xyz="0 0 1"/>
		<limit effort="1" upper="-3.1415" lower="3.1415" velocity="1"/>
		<origin rpy="1.2128921455931618 6.168472269845865 5.981915864600003" xyz="0.024615425770757704 0.6172048032789352 0.24960137763228396"/>
	</joint>
	<joint name="19109_to_12106" type="revolute">
		<parent link="12106"/>
		<child link="19109"/>
		<axis xyz="0 0 1"/>
		<limit effort="1" upper="-3.1415" lower="3.1415" velocity="1"/>
		<origin rpy="1.2128921455931618 6.168472269845865 5.981915864600003" xyz="0.024615425770757704 0.6172048032789352 0.24960137763228396"/>
	</joint>
	<joint name="4110_to_0" type="revolute">
		<parent link="0"/>
		<child link="4110"/>
		<axis xyz="0 1 0"/>
		<limit effort="1" upper="-3.1415" lower="3.1415" velocity="1"/>
		<origin rpy="5.608646030960299 0.9433934631504867 3.3931306307950977" xyz="0.5037091262767932 0.8169413360410507 0.6714144291225445"/>
	</joint>
	<joint name="7111_to_4110" type="revolute">
		<parent link="4110"/>
		<child link="7111"/>
		<axis xyz="0 0 1"/>
		<limit effort="1" upper="-3.1415" lower="3.1415" velocity="1"/>
		<origin rpy="0.16885532916019416 0.2841317866309211 1.6896091420755432" xyz="0.35153498198905087 0.9434304878114262 0.042461393450437535"/>
	</joint>
	<joint name="11112_to_7111" type="revolute">
		<parent link="7111"/>
		<child link="11112"/>
		<axis xyz="1 0 0"/>
		<limit effort="1" upper="-3.1415" lower="3.1415" velocity="1"/>
		<origin rpy="2.2587809762745534 4.345044844621232 2.650093939430147" xyz="0.12698554368739867 0.6037721706006548 0.464972356997047"/>
	</joint>
	<joint name="17113_to_11112" type="revolute">
		<parent link="11112"/>
		<child link="17113"/>
		<axis xyz="1 0 0"/>
		<limit effort="1" upper="-3.1415" lower="3.1415" velocity="1"/>
		<origin rpy="6.261277079252554 5.067334579666917 2.6089182420973276" xyz="0.3548572697122848 0.8083028751205286 0.9807476673070855"/>
	</joint>
	<joint name="17114_to_11112" type="revolute">
		<parent link="11112"/>
		<child link="17114"/>
		<axis xyz="1 0 0"/>
		<limit effort="1" upper="-3.1415" lower="3.1415" velocity="1"/>
		<origin rpy="6.261277079252554 5.067334579666917 2.6089182420973276" xyz="0.3548572697122848 0.8083028751205286 0.9807476673070855"/>
	</joint>
	<joint name="17115_to_11112" type="revolute">
		<parent link="11112"/>
		<child link="17115"/>
		<axis xyz="1 0 0"/>
		<limit effort="1" upper="-3.1415" lower="3.1415" velocity="1"/>
		<origin rpy="6.261277079252554 5.067334579666917 2.6089182420973276" xyz="0.3548572697122848 0.8083028751205286 0.9807476673070855"/>
	</joint>
	<joint name="11116_to_7111" type="revolute">
		<parent link="7111"/>
		<child link="11116"/>
		<axis xyz="1 0 0"/>
		<limit effort="1" upper="-3.1415" lower="3.1415" velocity="1"/>
		<origin rpy="2.2587809762745534 4.345044844621232 2.650093939430147" xyz="0.12698554368739867 0.6037721706006548 0.464972356997047"/>
	</joint>
	<joint name="17117_to_11116" type="revolute">
		<parent link="11116"/>
		<child link="17117"/>
		<axis xyz="1 0 0"/>
		<limit effort="1" upper="-3.1415" lower="3.1415" velocity="1"/>
		<origin rpy="6.261277079252554 5.067334579666917 2.6089182420973276" xyz="0.3548572697122848 0.8083028751205286 0.9807476673070855"/>
	</joint>
	<joint name="17118_to_11116" type="revolute">
		<parent link="11116"/>
		<child link="17118"/>
		<axis xyz="1 0 0"/>
		<limit effort="1" upper="-3.1415" lower="3.1415" velocity="1"/>
		<origin rpy="6.261277079252554 5.067334579666917 2.6089182420973276" xyz="0.3548572697122848 0.8083028751205286 0.9807476673070855"/>
	</joint>
	<joint name="17119_to_11116" type="revolute">
		<parent link="11116"/>
		<child link="17119"/>
		<axis xyz="1 0 0"/>
		<limit effort="1" upper="-3.1415" lower="3.1415" velocity="1"/>
		<origin rpy="6.261277079252554 5.067334579666917 2.6089182420973276" xyz="0.3548572697122848 0.8083028751205286 0.9807476673070855"/>
	</joint>
	<joint name="11120_to_7111" type="revolute">
		<parent link="7111"/>
		<child link="11120"/>
		<axis xyz="1 0 0"/>
		<limit effort="1" upper="-3.1415" lower="3.1415" velocity="1"/>
		<origin rpy="2.2587809762745534 4.345044844621232 2.650093939430147" xyz="0.12698554368739867 0.6037721706006548 0.464972356997047"/>
	</joint>
	<joint name="17121_to_11120" type="revolute">
		<parent link="11120"/>
		<child link="17121"/>
		<axis xyz="1 0 0"/>
		<limit effort="1" upper="-3.1415" lower="3.1415" velocity="1"/>
		<origin rpy="6.261277079252554 5.067334579666917 2.6089182420973276" xyz="0.3548572697122848 0.8083028751205286 0.9807476673070855"/>
	</joint>
	<joint name="17122_to_11120" type="revolute">
		<parent link="11120"/>
		<child link="17122"/>
		<axis xyz="1 0 0"/>
		<limit effort="1" upper="-3.1415" lower="3.1415" velocity="1"/>
		<origin rpy="6.261277079252554 5.067334579666917 2.6089182420973276" xyz="0.3548572697122848 0.8083028751205286 0.9807476673070855"/>
	</joint>
	<joint name="17123_to_11120" type="revolute">
		<parent link="11120"/>
		<child link="17123"/>
		<axis xyz="1 0 0"/>
		<limit effort="1" upper="-3.1415" lower="3.1415" velocity="1"/>
		<origin rpy="6.261277079252554 5.067334579666917 2.6089182420973276" xyz="0.3548572697122848 0.8083028751205286 0.9807476673070855"/>
	</joint>
	<joint name="11124_to_7111" type="revolute">
		<parent link="7111"/>
		<child link="11124"/>
		<axis xyz="1 0 0"/>
		<limit effort="1" upper="-3.1415" lower="3.1415" velocity="1"/>
		<origin rpy="2.2587809762745534 4.345044844621232 2.650093939430147" xyz="0.12698554368739867 0.6037721706006548 0.464972356997047"/>
	</joint>
	<joint name="17125_to_11124" type="revolute">
		<parent link="11124"/>
		<child link="17125"/>
		<axis xyz="1 0 0"/>
		<limit effort="1" upper="-3.1415" lower="3.1415" velocity="1"/>
		<origin rpy="6.261277079252554 5.067334579666917 2.6089182420973276" xyz="0.3548572697122848 0.8083028751205286 0.9807476673070855"/>
	</joint>
	<joint name="17126_to_11124" type="revolute">
		<parent link="11124"/>
		<child link="17126"/>
		<axis xyz="1 0 0"/>
		<limit effort="1" upper="-3.1415" lower="3.1415" velocity="1"/>
		<origin rpy="6.261277079252554 5.067334579666917 2.6089182420973276" xyz="0.3548572697122848 0.8083028751205286 0.9807476673070855"/>
	</joint>
	<joint name="17127_to_11124" type="revolute">
		<parent link="11124"/>
		<child link="17127"/>
		<axis xyz="1 0 0"/>
		<limit effort="1" upper="-3.1415" lower="3.1415" velocity="1"/>
		<origin rpy="6.261277079252554 5.067334579666917 2.6089182420973276" xyz="0.3548572697122848 0.8083028751205286 0.9807476673070855"/>
	</joint>
	<joint name="7128_to_4110" type="revolute">
		<parent link="4110"/>
		<child link="7128"/>
		<axis xyz="0 0 1"/>
		<limit effort="1" upper="-3.1415" lower="3.1415" velocity="1"/>
		<origin rpy="0.16885532916019416 0.2841317866309211 1.6896091420755432" xyz="0.35153498198905087 0.9434304878114262 0.042461393450437535"/>
	</joint>
	<joint name="11129_to_7128" type="revolute">
		<parent link="7128"/>
		<child link="11129"/>
		<axis xyz="1 0 0"/>
		<limit effort="1" upper="-3.1415" lower="3.1415" velocity="1"/>
		<origin rpy="2.2587809762745534 4.345044844621232 2.650093939430147" xyz="0.12698554368739867 0.6037721706006548 0.464972356997047"/>
	</joint>
	<joint name="17130_to_11129" type="revolute">
		<parent link="11129"/>
		<child link="17130"/>
		<axis xyz="1 0 0"/>
		<limit effort="1" upper="-3.1415" lower="3.1415" velocity="1"/>
		<origin rpy="6.261277079252554 5.067334579666917 2.6089182420973276" xyz="0.3548572697122848 0.8083028751205286 0.9807476673070855"/>
	</joint>
	<joint name="17131_to_11129" type="revolute">
		<parent link="11129"/>
		<child link="17131"/>
		<axis xyz="1 0 0"/>
		<limit effort="1" upper="-3.1415" lower="3.1415" velocity="1"/>
		<origin rpy="6.261277079252554 5.067334579666917 2.6089182420973276" xyz="0.3548572697122848 0.8083028751205286 0.9807476673070855"/>
	</joint>
	<joint name="17132_to_11129" type="revolute">
		<parent link="11129"/>
		<child link="17132"/>
		<axis xyz="1 0 0"/>
		<limit effort="1" upper="-3.1415" lower="3.1415" velocity="1"/>
		<origin rpy="6.261277079252554 5.067334579666917 2.6089182420973276" xyz="0.3548572697122848 0.8083028751205286 0.9807476673070855"/>
	</joint>
	<joint name="11133_to_7128" type="revolute">
		<parent link="7128"/>
		<child link="11133"/>
		<axis xyz="1 0 0"/>
		<limit effort="1" upper="-3.1415" lower="3.1415" velocity="1"/>
		<origin rpy="2.2587809762745534 4.345044844621232 2.650093939430147" xyz="0.12698554368739867 0.6037721706006548 0.464972356997047"/>
	</joint>
	<joint name="17134_to_11133" type="revolute">
		<parent link="11133"/>
		<child link="17134"/>
		<axis xyz="1 0 0"/>
		<limit effort="1" upper="-3.1415" lower="3.1415" velocity="1"/>
		<origin rpy="6.261277079252554 5.067334579666917 2.6089182420973276" xyz="0.3548572697122848 0.8083028751205286 0.9807476673070855"/>
	</joint>
	<joint name="17135_to_11133" type="revolute">
		<parent link="11133"/>
		<child link="17135"/>
		<axis xyz="1 0 0"/>
		<limit effort="1" upper="-3.1415" lower="3.1415" velocity="1"/>
		<origin rpy="6.261277079252554 5.067334579666917 2.6089182420973276" xyz="0.3548572697122848 0.8083028751205286 0.9807476673070855"/>
	</joint>
	<joint name="17136_to_11133" type="revolute">
		<parent link="11133"/>
		<child link="17136"/>
		<axis xyz="1 0 0"/>
		<limit effort="1" upper="-3.1415" lower="3.1415" velocity="1"/>
		<origin rpy="6.261277079252554 5.067334579666917 2.6089182420973276" xyz="0.3548572697122848 0.8083028751205286 0.9807476673070855"/>
	</joint>
	<joint name="11137_to_7128" type="revolute">
		<parent link="7128"/>
		<child link="11137"/>
		<axis xyz="1 0 0"/>
		<limit effort="1" upper="-3.1415" lower="3.1415" velocity="1"/>
		<origin rpy="2.2587809762745534 4.345044844621232 2.650093939430147" xyz="0.12698554368739867 0.6037721706006548 0.464972356997047"/>
	</joint>
	<joint name="17138_to_11137" type="revolute">
		<parent link="11137"/>
		<child link="17138"/>
		<axis xyz="1 0 0"/>
		<limit effort="1" upper="-3.1415" lower="3.1415" velocity="1"/>
		<origin rpy="6.261277079252554 5.067334579666917 2.6089182420973276" xyz="0.3548572697122848 0.8083028751205286 0.9807476673070855"/>
	</joint>
	<joint name="17139_to_11137" type="revolute">
		<parent link="11137"/>
		<child link="17139"/>
		<axis xyz="1 0 0"/>
		<limit effort="1" upper="-3.1415" lower="3.1415" velocity="1"/>
		<origin rpy="6.261277079252554 5.067334579666917 2.6089182420973276" xyz="0.3548572697122848 0.8083028751205286 0.9807476673070855"/>
	</joint>
	<joint name="17140_to_11137" type="revolute">
		<parent link="11137"/>
		<child link="17140"/>
		<axis xyz="1 0 0"/>
		<limit effort="1" upper="-3.1415" lower="3.1415" velocity="1"/>
		<origin rpy="6.261277079252554 5.067334579666917 2.6089182420973276" xyz="0.3548572697122848 0.8083028751205286 0.9807476673070855"/>
	</joint>
	<joint name="11141_to_7128" type="revolute">
		<parent link="7128"/>
		<child link="11141"/>
		<axis xyz="1 0 0"/>
		<limit effort="1" upper="-3.1415" lower="3.1415" velocity="1"/>
		<origin rpy="2.2587809762745534 4.345044844621232 2.650093939430147" xyz="0.12698554368739867 0.6037721706006548 0.464972356997047"/>
	</joint>
	<joint name="17142_to_11141" type="revolute">
		<parent link="11141"/>
		<child link="17142"/>
		<axis xyz="1 0 0"/>
		<limit effort="1" upper="-3.1415" lower="3.1415" velocity="1"/>
		<origin rpy="6.261277079252554 5.067334579666917 2.6089182420973276" xyz="0.3548572697122848 0.8083028751205286 0.9807476673070855"/>
	</joint>
	<joint name="17143_to_11141" type="revolute">
		<parent link="11141"/>
		<child link="17143"/>
		<axis xyz="1 0 0"/>
		<limit effort="1" upper="-3.1415" lower="3.1415" velocity="1"/>
		<origin rpy="6.261277079252554 5.067334579666917 2.6089182420973276" xyz="0.3548572697122848 0.8083028751205286 0.9807476673070855"/>
	</joint>
	<joint name="17144_to_11141" type="revolute">
		<parent link="11141"/>
		<child link="17144"/>
		<axis xyz="1 0 0"/>
		<limit effort="1" upper="-3.1415" lower="3.1415" velocity="1"/>
		<origin rpy="6.261277079252554 5.067334579666917 2.6089182420973276" xyz="0.3548572697122848 0.8083028751205286 0.9807476673070855"/>
	</joint>
	<joint name="9145_to_4110" type="revolute">
		<parent link="4110"/>
		<child link="9145"/>
		<axis xyz="0 1 0"/>
		<limit effort="1" upper="-3.1415" lower="3.1415" velocity="1"/>
		<origin rpy="2.314505073589365 0.3272189177421695 1.9243792436303482" xyz="0.7361485572085545 0.0036646725677260683 0.5245606804251772"/>
	</joint>
	<joint name="15146_to_9145" type="revolute">
		<parent link="9145"/>
		<child link="15146"/>
		<axis xyz="0 1 0"/>
		<limit effort="1" upper="-3.1415" lower="3.1415" velocity="1"/>
		<origin rpy="2.8131559109899755 4.5285480338609565 1.146649559632401" xyz="0.741636867843579 0.012255624338003424 0.8565076881430371"/>
	</joint>
	<joint name="15147_to_9145" type="revolute">
		<parent link="9145"/>
		<child link="15147"/>
		<axis xyz="0 1 0"/>
		<limit effort="1" upper="-3.1415" lower="3.1415" velocity="1"/>
		<origin rpy="2.8131559109899755 4.5285480338609565 1.146649559632401" xyz="0.741636867843579 0.012255624338003424 0.8565076881430371"/>
	</joint>
	<joint name="15148_to_9145" type="revolute">
		<parent link="9145"/>
		<child link="15148"/>
		<axis xyz="0 1 0"/>
		<limit effort="1" upper="-3.1415" lower="3.1415" velocity="1"/>
		<origin rpy="2.8131559109899755 4.5285480338609565 1.146649559632401" xyz="0.741636867843579 0.012255624338003424 0.8565076881430371"/>
	</joint>
	<joint name="9149_to_4110" type="revolute">
		<parent link="4110"/>
		<child link="9149"/>
		<axis xyz="0 1 0"/>
		<limit effort="1" upper="-3.1415" lower="3.1415" velocity="1"/>
		<origin rpy="2.314505073589365 0.3272189177421695 1.9243792436303482" xyz="0.7361485572085545 0.0036646725677260683 0.5245606804251772"/>
	</joint>
	<joint name="15150_to_9149" type="revolute">
		<parent link="9149"/>
		<child link="15150"/>
		<axis xyz="0 1 0"/>
		<limit effort="1" upper="-3.1415" lower="3.1415" velocity="1"/>
		<origin rpy="2.8131559109899755 4.5285480338609565 1.146649559632401" xyz="0.741636867843579 0.012255624338003424 0.8565076881430371"/>
	</joint>
	<joint name="15151_to_9149" type="revolute">
		<parent link="9149"/>
		<child link="15151"/>
		<axis xyz="0 1 0"/>
		<limit effort="1" upper="-3.1415" lower="3.1415" velocity="1"/>
		<origin rpy="2.8131559109899755 4.5285480338609565 1.146649559632401" xyz="0.741636867843579 0.012255624338003424 0.8565076881430371"/>
	</joint>
	<joint name="15152_to_9149" type="revolute">
		<parent link="9149"/>
		<child link="15152"/>
		<axis xyz="0 1 0"/>
		<limit effort="1" upper="-3.1415" lower="3.1415" velocity="1"/>
		<origin rpy="2.8131559109899755 4.5285480338609565 1.146649559632401" xyz="0.741636867843579 0.012255624338003424 0.8565076881430371"/>
	</joint>
	<joint name="9153_to_4110" type="revolute">
		<parent link="4110"/>
		<child link="9153"/>
		<axis xyz="0 1 0"/>
		<limit effort="1" upper="-3.1415" lower="3.1415" velocity="1"/>
		<origin rpy="2.314505073589365 0.3272189177421695 1.9243792436303482" xyz="0.7361485572085545 0.0036646725677260683 0.5245606804251772"/>
	</joint>
	<joint name="15154_to_9153" type="revolute">
		<parent link="9153"/>
		<child link="15154"/>
		<axis xyz="0 1 0"/>
		<limit effort="1" upper="-3.1415" lower="3.1415" velocity="1"/>
		<origin rpy="2.8131559109899755 4.5285480338609565 1.146649559632401" xyz="0.741636867843579 0.012255624338003424 0.8565076881430371"/>
	</joint>
	<joint name="15155_to_9153" type="revolute">
		<parent link="9153"/>
		<child link="15155"/>
		<axis xyz="0 1 0"/>
		<limit effort="1" upper="-3.1415" lower="3.1415" velocity="1"/>
		<origin rpy="2.8131559109899755 4.5285480338609565 1.146649559632401" xyz="0.741636867843579 0.012255624338003424 0.8565076881430371"/>
	</joint>
	<joint name="15156_to_9153" type="revolute">
		<parent link="9153"/>
		<child link="15156"/>
		<axis xyz="0 1 0"/>
		<limit effort="1" upper="-3.1415" lower="3.1415" velocity="1"/>
		<origin rpy="2.8131559109899755 4.5285480338609565 1.146649559632401" xyz="0.741636867843579 0.012255624338003424 0.8565076881430371"/>
	</joint>
	<joint name="9157_to_4110" type="revolute">
		<parent link="4110"/>
		<child link="9157"/>
		<axis xyz="0 1 0"/>
		<limit effort="1" upper="-3.1415" lower="3.1415" velocity="1"/>
		<origin rpy="2.314505073589365 0.3272189177421695 1.9243792436303482" xyz="0.7361485572085545 0.0036646725677260683 0.5245606804251772"/>
	</joint>
	<joint name="15158_to_9157" type="revolute">
		<parent link="9157"/>
		<child link="15158"/>
		<axis xyz="0 1 0"/>
		<limit effort="1" upper="-3.1415" lower="3.1415" velocity="1"/>
		<origin rpy="2.8131559109899755 4.5285480338609565 1.146649559632401" xyz="0.741636867843579 0.012255624338003424 0.8565076881430371"/>
	</joint>
	<joint name="15159_to_9157" type="revolute">
		<parent link="9157"/>
		<child link="15159"/>
		<axis xyz="0 1 0"/>
		<limit effort="1" upper="-3.1415" lower="3.1415" velocity="1"/>
		<origin rpy="2.8131559109899755 4.5285480338609565 1.146649559632401" xyz="0.741636867843579 0.012255624338003424 0.8565076881430371"/>
	</joint>
	<joint name="15160_to_9157" type="revolute">
		<parent link="9157"/>
		<child link="15160"/>
		<axis xyz="0 1 0"/>
		<limit effort="1" upper="-3.1415" lower="3.1415" velocity="1"/>
		<origin rpy="2.8131559109899755 4.5285480338609565 1.146649559632401" xyz="0.741636867843579 0.012255624338003424 0.8565076881430371"/>
	</joint>
	<joint name="16161_to_4110" type="revolute">
		<parent link="4110"/>
		<child link="16161"/>
		<axis xyz="0 1 0"/>
		<limit effort="1" upper="-3.1415" lower="3.1415" velocity="1"/>
		<origin rpy="6.246183417097564 2.844924100196284 4.125657653800232" xyz="0.14757247128921602 0.3637631098726899 0.3103101951382079"/>
	</joint>
	<joint name="4162_to_0" type="revolute">
		<parent link="0"/>
		<child link="4162"/>
		<axis xyz="0 1 0"/>
		<limit effort="1" upper="-3.1415" lower="3.1415" velocity="1"/>
		<origin rpy="5.608646030960299 0.9433934631504867 3.3931306307950977" xyz="0.5037091262767932 0.8169413360410507 0.6714144291225445"/>
	</joint>
	<joint name="7163_to_4162" type="revolute">
		<parent link="4162"/>
		<child link="7163"/>
		<axis xyz="0 0 1"/>
		<limit effort="1" upper="-3.1415" lower="3.1415" velocity="1"/>
		<origin rpy="0.16885532916019416 0.2841317866309211 1.6896091420755432" xyz="0.35153498198905087 0.9434304878114262 0.042461393450437535"/>
	</joint>
	<joint name="11164_to_7163" type="revolute">
		<parent link="7163"/>
		<child link="11164"/>
		<axis xyz="1 0 0"/>
		<limit effort="1" upper="-3.1415" lower="3.1415" velocity="1"/>
		<origin rpy="2.2587809762745534 4.345044844621232 2.650093939430147" xyz="0.12698554368739867 0.6037721706006548 0.464972356997047"/>
	</joint>
	<joint name="17165_to_11164" type="revolute">
		<parent link="11164"/>
		<child link="17165"/>
		<axis xyz="1 0 0"/>
		<limit effort="1" upper="-3.1415" lower="3.1415" velocity="1"/>
		<origin rpy="6.261277079252554 5.067334579666917 2.6089182420973276" xyz="0.3548572697122848 0.8083028751205286 0.9807476673070855"/>
	</joint>
	<joint name="17166_to_11164" type="revolute">
		<parent link="11164"/>
		<child link="17166"/>
		<axis xyz="1 0 0"/>
		<limit effort="1" upper="-3.1415" lower="3.1415" velocity="1"/>
		<origin rpy="6.261277079252554 5.067334579666917 2.6089182420973276" xyz="0.3548572697122848 0.8083028751205286 0.9807476673070855"/>
	</joint>
	<joint name="17167_to_11164" type="revolute">
		<parent link="11164"/>
		<child link="17167"/>
		<axis xyz="1 0 0"/>
		<limit effort="1" upper="-3.1415" lower="3.1415" velocity="1"/>
		<origin rpy="6.261277079252554 5.067334579666917 2.6089182420973276" xyz="0.3548572697122848 0.8083028751205286 0.9807476673070855"/>
	</joint>
	<joint name="11168_to_7163" type="revolute">
		<parent link="7163"/>
		<child link="11168"/>
		<axis xyz="1 0 0"/>
		<limit effort="1" upper="-3.1415" lower="3.1415" velocity="1"/>
		<origin rpy="2.2587809762745534 4.345044844621232 2.650093939430147" xyz="0.12698554368739867 0.6037721706006548 0.464972356997047"/>
	</joint>
	<joint name="17169_to_11168" type="revolute">
		<parent link="11168"/>
		<child link="17169"/>
		<axis xyz="1 0 0"/>
		<limit effort="1" upper="-3.1415" lower="3.1415" velocity="1"/>
		<origin rpy="6.261277079252554 5.067334579666917 2.6089182420973276" xyz="0.3548572697122848 0.8083028751205286 0.9807476673070855"/>
	</joint>
	<joint name="17170_to_11168" type="revolute">
		<parent link="11168"/>
		<child link="17170"/>
		<axis xyz="1 0 0"/>
		<limit effort="1" upper="-3.1415" lower="3.1415" velocity="1"/>
		<origin rpy="6.261277079252554 5.067334579666917 2.6089182420973276" xyz="0.3548572697122848 0.8083028751205286 0.9807476673070855"/>
	</joint>
	<joint name="17171_to_11168" type="revolute">
		<parent link="11168"/>
		<child link="17171"/>
		<axis xyz="1 0 0"/>
		<limit effort="1" upper="-3.1415" lower="3.1415" velocity="1"/>
		<origin rpy="6.261277079252554 5.067334579666917 2.6089182420973276" xyz="0.3548572697122848 0.8083028751205286 0.9807476673070855"/>
	</joint>
	<joint name="11172_to_7163" type="revolute">
		<parent link="7163"/>
		<child link="11172"/>
		<axis xyz="1 0 0"/>
		<limit effort="1" upper="-3.1415" lower="3.1415" velocity="1"/>
		<origin rpy="2.2587809762745534 4.345044844621232 2.650093939430147" xyz="0.12698554368739867 0.6037721706006548 0.464972356997047"/>
	</joint>
	<joint name="17173_to_11172" type="revolute">
		<parent link="11172"/>
		<child link="17173"/>
		<axis xyz="1 0 0"/>
		<limit effort="1" upper="-3.1415" lower="3.1415" velocity="1"/>
		<origin rpy="6.261277079252554 5.067334579666917 2.6089182420973276" xyz="0.3548572697122848 0.8083028751205286 0.9807476673070855"/>
	</joint>
	<joint name="17174_to_11172" type="revolute">
		<parent link="11172"/>
		<child link="17174"/>
		<axis xyz="1 0 0"/>
		<limit effort="1" upper="-3.1415" lower="3.1415" velocity="1"/>
		<origin rpy="6.261277079252554 5.067334579666917 2.6089182420973276" xyz="0.3548572697122848 0.8083028751205286 0.9807476673070855"/>
	</joint>
	<joint name="17175_to_11172" type="revolute">
		<parent link="11172"/>
		<child link="17175"/>
		<axis xyz="1 0 0"/>
		<limit effort="1" upper="-3.1415" lower="3.1415" velocity="1"/>
		<origin rpy="6.261277079252554 5.067334579666917 2.6089182420973276" xyz="0.3548572697122848 0.8083028751205286 0.9807476673070855"/>
	</joint>
	<joint name="11176_to_7163" type="revolute">
		<parent link="7163"/>
		<child link="11176"/>
		<axis xyz="1 0 0"/>
		<limit effort="1" upper="-3.1415" lower="3.1415" velocity="1"/>
		<origin rpy="2.2587809762745534 4.345044844621232 2.650093939430147" xyz="0.12698554368739867 0.6037721706006548 0.464972356997047"/>
	</joint>
	<joint name="17177_to_11176" type="revolute">
		<parent link="11176"/>
		<child link="17177"/>
		<axis xyz="1 0 0"/>
		<limit effort="1" upper="-3.1415" lower="3.1415" velocity="1"/>
		<origin rpy="6.261277079252554 5.067334579666917 2.6089182420973276" xyz="0.3548572697122848 0.8083028751205286 0.9807476673070855"/>
	</joint>
	<joint name="17178_to_11176" type="revolute">
		<parent link="11176"/>
		<child link="17178"/>
		<axis xyz="1 0 0"/>
		<limit effort="1" upper="-3.1415" lower="3.1415" velocity="1"/>
		<origin rpy="6.261277079252554 5.067334579666917 2.6089182420973276" xyz="0.3548572697122848 0.8083028751205286 0.9807476673070855"/>
	</joint>
	<joint name="17179_to_11176" type="revolute">
		<parent link="11176"/>
		<child link="17179"/>
		<axis xyz="1 0 0"/>
		<limit effort="1" upper="-3.1415" lower="3.1415" velocity="1"/>
		<origin rpy="6.261277079252554 5.067334579666917 2.6089182420973276" xyz="0.3548572697122848 0.8083028751205286 0.9807476673070855"/>
	</joint>
	<joint name="7180_to_4162" type="revolute">
		<parent link="4162"/>
		<child link="7180"/>
		<axis xyz="0 0 1"/>
		<limit effort="1" upper="-3.1415" lower="3.1415" velocity="1"/>
		<origin rpy="0.16885532916019416 0.2841317866309211 1.6896091420755432" xyz="0.35153498198905087 0.9434304878114262 0.042461393450437535"/>
	</joint>
	<joint name="11181_to_7180" type="revolute">
		<parent link="7180"/>
		<child link="11181"/>
		<axis xyz="1 0 0"/>
		<limit effort="1" upper="-3.1415" lower="3.1415" velocity="1"/>
		<origin rpy="2.2587809762745534 4.345044844621232 2.650093939430147" xyz="0.12698554368739867 0.6037721706006548 0.464972356997047"/>
	</joint>
	<joint name="17182_to_11181" type="revolute">
		<parent link="11181"/>
		<child link="17182"/>
		<axis xyz="1 0 0"/>
		<limit effort="1" upper="-3.1415" lower="3.1415" velocity="1"/>
		<origin rpy="6.261277079252554 5.067334579666917 2.6089182420973276" xyz="0.3548572697122848 0.8083028751205286 0.9807476673070855"/>
	</joint>
	<joint name="17183_to_11181" type="revolute">
		<parent link="11181"/>
		<child link="17183"/>
		<axis xyz="1 0 0"/>
		<limit effort="1" upper="-3.1415" lower="3.1415" velocity="1"/>
		<origin rpy="6.261277079252554 5.067334579666917 2.6089182420973276" xyz="0.3548572697122848 0.8083028751205286 0.9807476673070855"/>
	</joint>
	<joint name="17184_to_11181" type="revolute">
		<parent link="11181"/>
		<child link="17184"/>
		<axis xyz="1 0 0"/>
		<limit effort="1" upper="-3.1415" lower="3.1415" velocity="1"/>
		<origin rpy="6.261277079252554 5.067334579666917 2.6089182420973276" xyz="0.3548572697122848 0.8083028751205286 0.9807476673070855"/>
	</joint>
	<joint name="11185_to_7180" type="revolute">
		<parent link="7180"/>
		<child link="11185"/>
		<axis xyz="1 0 0"/>
		<limit effort="1" upper="-3.1415" lower="3.1415" velocity="1"/>
		<origin rpy="2.2587809762745534 4.345044844621232 2.650093939430147" xyz="0.12698554368739867 0.6037721706006548 0.464972356997047"/>
	</joint>
	<joint name="17186_to_11185" type="revolute">
		<parent link="11185"/>
		<child link="17186"/>
		<axis xyz="1 0 0"/>
		<limit effort="1" upper="-3.1415" lower="3.1415" velocity="1"/>
		<origin rpy="6.261277079252554 5.067334579666917 2.6089182420973276" xyz="0.3548572697122848 0.8083028751205286 0.9807476673070855"/>
	</joint>
	<joint name="17187_to_11185" type="revolute">
		<parent link="11185"/>
		<child link="17187"/>
		<axis xyz="1 0 0"/>
		<limit effort="1" upper="-3.1415" lower="3.1415" velocity="1"/>
		<origin rpy="6.261277079252554 5.067334579666917 2.6089182420973276" xyz="0.3548572697122848 0.8083028751205286 0.9807476673070855"/>
	</joint>
	<joint name="17188_to_11185" type="revolute">
		<parent link="11185"/>
		<child link="17188"/>
		<axis xyz="1 0 0"/>
		<limit effort="1" upper="-3.1415" lower="3.1415" velocity="1"/>
		<origin rpy="6.261277079252554 5.067334579666917 2.6089182420973276" xyz="0.3548572697122848 0.8083028751205286 0.9807476673070855"/>
	</joint>
	<joint name="11189_to_7180" type="revolute">
		<parent link="7180"/>
		<child link="11189"/>
		<axis xyz="1 0 0"/>
		<limit effort="1" upper="-3.1415" lower="3.1415" velocity="1"/>
		<origin rpy="2.2587809762745534 4.345044844621232 2.650093939430147" xyz="0.12698554368739867 0.6037721706006548 0.464972356997047"/>
	</joint>
	<joint name="17190_to_11189" type="revolute">
		<parent link="11189"/>
		<child link="17190"/>
		<axis xyz="1 0 0"/>
		<limit effort="1" upper="-3.1415" lower="3.1415" velocity="1"/>
		<origin rpy="6.261277079252554 5.067334579666917 2.6089182420973276" xyz="0.3548572697122848 0.8083028751205286 0.9807476673070855"/>
	</joint>
	<joint name="17191_to_11189" type="revolute">
		<parent link="11189"/>
		<child link="17191"/>
		<axis xyz="1 0 0"/>
		<limit effort="1" upper="-3.1415" lower="3.1415" velocity="1"/>
		<origin rpy="6.261277079252554 5.067334579666917 2.6089182420973276" xyz="0.3548572697122848 0.8083028751205286 0.9807476673070855"/>
	</joint>
	<joint name="17192_to_11189" type="revolute">
		<parent link="11189"/>
		<child link="17192"/>
		<axis xyz="1 0 0"/>
		<limit effort="1" upper="-3.1415" lower="3.1415" velocity="1"/>
		<origin rpy="6.261277079252554 5.067334579666917 2.6089182420973276" xyz="0.3548572697122848 0.8083028751205286 0.9807476673070855"/>
	</joint>
	<joint name="11193_to_7180" type="revolute">
		<parent link="7180"/>
		<child link="11193"/>
		<axis xyz="1 0 0"/>
		<limit effort="1" upper="-3.1415" lower="3.1415" velocity="1"/>
		<origin rpy="2.2587809762745534 4.345044844621232 2.650093939430147" xyz="0.12698554368739867 0.6037721706006548 0.464972356997047"/>
	</joint>
	<joint name="17194_to_11193" type="revolute">
		<parent link="11193"/>
		<child link="17194"/>
		<axis xyz="1 0 0"/>
		<limit effort="1" upper="-3.1415" lower="3.1415" velocity="1"/>
		<origin rpy="6.261277079252554 5.067334579666917 2.6089182420973276" xyz="0.3548572697122848 0.8083028751205286 0.9807476673070855"/>
	</joint>
	<joint name="17195_to_11193" type="revolute">
		<parent link="11193"/>
		<child link="17195"/>
		<axis xyz="1 0 0"/>
		<limit effort="1" upper="-3.1415" lower="3.1415" velocity="1"/>
		<origin rpy="6.261277079252554 5.067334579666917 2.6089182420973276" xyz="0.3548572697122848 0.8083028751205286 0.9807476673070855"/>
	</joint>
	<joint name="17196_to_11193" type="revolute">
		<parent link="11193"/>
		<child link="17196"/>
		<axis xyz="1 0 0"/>
		<limit effort="1" upper="-3.1415" lower="3.1415" velocity="1"/>
		<origin rpy="6.261277079252554 5.067334579666917 2.6089182420973276" xyz="0.3548572697122848 0.8083028751205286 0.9807476673070855"/>
	</joint>
	<joint name="9197_to_4162" type="revolute">
		<parent link="4162"/>
		<child link="9197"/>
		<axis xyz="0 1 0"/>
		<limit effort="1" upper="-3.1415" lower="3.1415" velocity="1"/>
		<origin rpy="2.314505073589365 0.3272189177421695 1.9243792436303482" xyz="0.7361485572085545 0.0036646725677260683 0.5245606804251772"/>
	</joint>
	<joint name="15198_to_9197" type="revolute">
		<parent link="9197"/>
		<child link="15198"/>
		<axis xyz="0 1 0"/>
		<limit effort="1" upper="-3.1415" lower="3.1415" velocity="1"/>
		<origin rpy="2.8131559109899755 4.5285480338609565 1.146649559632401" xyz="0.741636867843579 0.012255624338003424 0.8565076881430371"/>
	</joint>
	<joint name="15199_to_9197" type="revolute">
		<parent link="9197"/>
		<child link="15199"/>
		<axis xyz="0 1 0"/>
		<limit effort="1" upper="-3.1415" lower="3.1415" velocity="1"/>
		<origin rpy="2.8131559109899755 4.5285480338609565 1.146649559632401" xyz="0.741636867843579 0.012255624338003424 0.8565076881430371"/>
	</joint>
	<joint name="15200_to_9197" type="revolute">
		<parent link="9197"/>
		<child link="15200"/>
		<axis xyz="0 1 0"/>
		<limit effort="1" upper="-3.1415" lower="3.1415" velocity="1"/>
		<origin rpy="2.8131559109899755 4.5285480338609565 1.146649559632401" xyz="0.741636867843579 0.012255624338003424 0.8565076881430371"/>
	</joint>
	<joint name="9201_to_4162" type="revolute">
		<parent link="4162"/>
		<child link="9201"/>
		<axis xyz="0 1 0"/>
		<limit effort="1" upper="-3.1415" lower="3.1415" velocity="1"/>
		<origin rpy="2.314505073589365 0.3272189177421695 1.9243792436303482" xyz="0.7361485572085545 0.0036646725677260683 0.5245606804251772"/>
	</joint>
	<joint name="15202_to_9201" type="revolute">
		<parent link="9201"/>
		<child link="15202"/>
		<axis xyz="0 1 0"/>
		<limit effort="1" upper="-3.1415" lower="3.1415" velocity="1"/>
		<origin rpy="2.8131559109899755 4.5285480338609565 1.146649559632401" xyz="0.741636867843579 0.012255624338003424 0.8565076881430371"/>
	</joint>
	<joint name="15203_to_9201" type="revolute">
		<parent link="9201"/>
		<child link="15203"/>
		<axis xyz="0 1 0"/>
		<limit effort="1" upper="-3.1415" lower="3.1415" velocity="1"/>
		<origin rpy="2.8131559109899755 4.5285480338609565 1.146649559632401" xyz="0.741636867843579 0.012255624338003424 0.8565076881430371"/>
	</joint>
	<joint name="15204_to_9201" type="revolute">
		<parent link="9201"/>
		<child link="15204"/>
		<axis xyz="0 1 0"/>
		<limit effort="1" upper="-3.1415" lower="3.1415" velocity="1"/>
		<origin rpy="2.8131559109899755 4.5285480338609565 1.146649559632401" xyz="0.741636867843579 0.012255624338003424 0.8565076881430371"/>
	</joint>
	<joint name="9205_to_4162" type="revolute">
		<parent link="4162"/>
		<child link="9205"/>
		<axis xyz="0 1 0"/>
		<limit effort="1" upper="-3.1415" lower="3.1415" velocity="1"/>
		<origin rpy="2.314505073589365 0.3272189177421695 1.9243792436303482" xyz="0.7361485572085545 0.0036646725677260683 0.5245606804251772"/>
	</joint>
	<joint name="15206_to_9205" type="revolute">
		<parent link="9205"/>
		<child link="15206"/>
		<axis xyz="0 1 0"/>
		<limit effort="1" upper="-3.1415" lower="3.1415" velocity="1"/>
		<origin rpy="2.8131559109899755 4.5285480338609565 1.146649559632401" xyz="0.741636867843579 0.012255624338003424 0.8565076881430371"/>
	</joint>
	<joint name="15207_to_9205" type="revolute">
		<parent link="9205"/>
		<child link="15207"/>
		<axis xyz="0 1 0"/>
		<limit effort="1" upper="-3.1415" lower="3.1415" velocity="1"/>
		<origin rpy="2.8131559109899755 4.5285480338609565 1.146649559632401" xyz="0.741636867843579 0.012255624338003424 0.8565076881430371"/>
	</joint>
	<joint name="15208_to_9205" type="revolute">
		<parent link="9205"/>
		<child link="15208"/>
		<axis xyz="0 1 0"/>
		<limit effort="1" upper="-3.1415" lower="3.1415" velocity="1"/>
		<origin rpy="2.8131559109899755 4.5285480338609565 1.146649559632401" xyz="0.741636867843579 0.012255624338003424 0.8565076881430371"/>
	</joint>
	<joint name="9209_to_4162" type="revolute">
		<parent link="4162"/>
		<child link="9209"/>
		<axis xyz="0 1 0"/>
		<limit effort="1" upper="-3.1415" lower="3.1415" velocity="1"/>
		<origin rpy="2.314505073589365 0.3272189177421695 1.9243792436303482" xyz="0.7361485572085545 0.0036646725677260683 0.5245606804251772"/>
	</joint>
	<joint name="15210_to_9209" type="revolute">
		<parent link="9209"/>
		<child link="15210"/>
		<axis xyz="0 1 0"/>
		<limit effort="1" upper="-3.1415" lower="3.1415" velocity="1"/>
		<origin rpy="2.8131559109899755 4.5285480338609565 1.146649559632401" xyz="0.741636867843579 0.012255624338003424 0.8565076881430371"/>
	</joint>
	<joint name="15211_to_9209" type="revolute">
		<parent link="9209"/>
		<child link="15211"/>
		<axis xyz="0 1 0"/>
		<limit effort="1" upper="-3.1415" lower="3.1415" velocity="1"/>
		<origin rpy="2.8131559109899755 4.5285480338609565 1.146649559632401" xyz="0.741636867843579 0.012255624338003424 0.8565076881430371"/>
	</joint>
	<joint name="15212_to_9209" type="revolute">
		<parent link="9209"/>
		<child link="15212"/>
		<axis xyz="0 1 0"/>
		<limit effort="1" upper="-3.1415" lower="3.1415" velocity="1"/>
		<origin rpy="2.8131559109899755 4.5285480338609565 1.146649559632401" xyz="0.741636867843579 0.012255624338003424 0.8565076881430371"/>
	</joint>
	<joint name="16213_to_4162" type="revolute">
		<parent link="4162"/>
		<child link="16213"/>
		<axis xyz="0 1 0"/>
		<limit effort="1" upper="-3.1415" lower="3.1415" velocity="1"/>
		<origin rpy="6.246183417097564 2.844924100196284 4.125657653800232" xyz="0.14757247128921602 0.3637631098726899 0.3103101951382079"/>
	</joint>
</robot>
